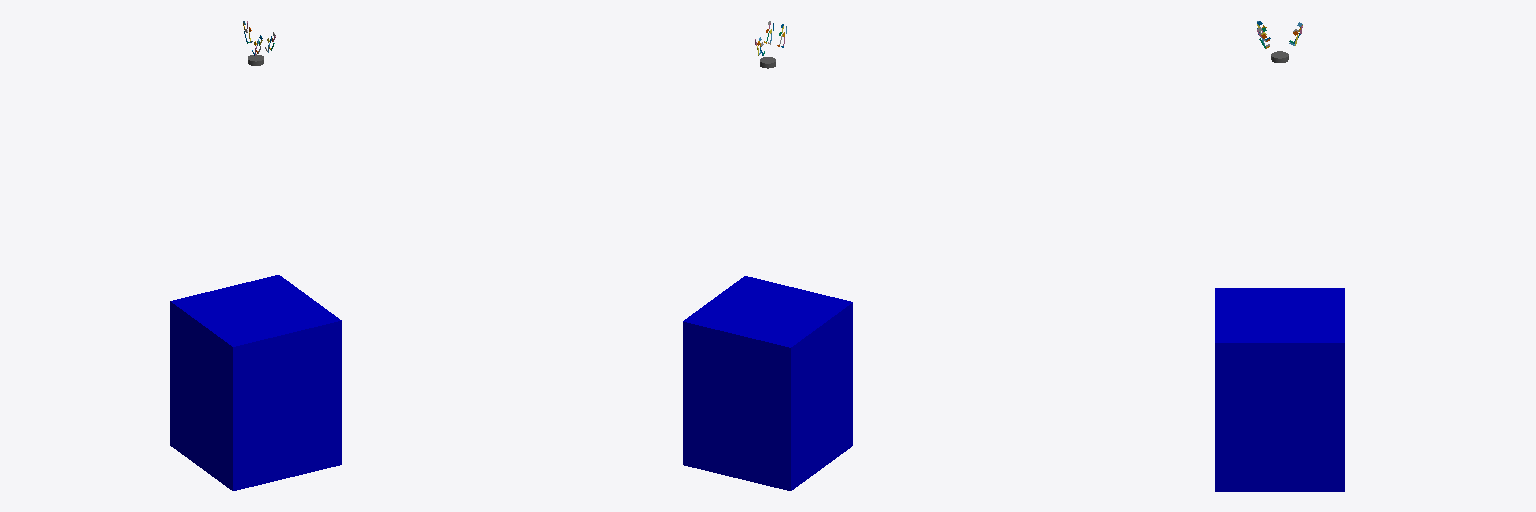
--- What the picture shows (computed from the rendered views, not written in the file) ---
The picture shows the robot from 3 angles, left to right: view 1: azimuth 30°, elevation 25°; view 2: azimuth 150°, elevation 25°; view 3: azimuth 270°, elevation 25°; orthographic projection.
Model iiwa_3finger with 51 links and 50 joints (46 revolute, 4 fixed), rooted at world, posed all joints at 0.
Links seen in each view (by area): view 1: world; view 2: world; view 3: world.
Link boxes in pixels (x1,y1,x2,y2): world: [170, 275, 341, 490]; world: [683, 276, 852, 490]; world: [1215, 288, 1344, 491].
Size in the robot's own frame: 0.6 by 0.6 by 2.25 metres.
Meshes: 14 distinct files referenced, 1 mesh visuals loaded (1 binary STL); not drawn: 21 (reference not matched to a file when rendering).

The robot description file, URDF, robot "iiwa_3finger":
<?xml version="1.0" ?>
<!-- =================================================================================== -->
<!-- |    This document was autogenerated by xacro from iiwa_3finger.urdf.xacro        | -->
<!-- |    EDITING THIS FILE BY HAND IS NOT RECOMMENDED                                 | -->
<!-- =================================================================================== -->
<!-- Here we define the robot, we named it "iiwa14_3finger_gripper" -->
<robot name="iiwa_3finger" xmlns:xacro="http://www.ros.org/wiki/xacro">
  <!-- Import Rviz colors -->
  <material name="Black">
    <color rgba="0.0 0.0 0.0 1.0"/>
  </material>
  <material name="Blue">
    <color rgba="0.0 0.0 0.8 1.0"/>
  </material>
  <material name="Green">
    <color rgba="0.0 0.8 0.0 1.0"/>
  </material>
  <material name="Grey">
    <color rgba="0.4 0.4 0.4 1.0"/>
  </material>
  <material name="Orange">
    <color rgba="1.0 0.423529411765 0.0392156862745 1.0"/>
  </material>
  <material name="Brown">
    <color rgba="0.870588235294 0.811764705882 0.764705882353 1.0"/>
  </material>
  <material name="Red">
    <color rgba="0.8 0.0 0.0 1.0"/>
  </material>
  <material name="White">
    <color rgba="1.0 1.0 1.0 1.0"/>
  </material>
  <!--Import the iiwa14 macro -->
  <!-- Import all Gazebo-customization elements, including Gazebo colors -->
  <!-- Import Transmissions -->
  <!-- Include Utilities -->
  <!-- The following macros are adapted from the LWR 4 definitions of the RCPRG - https://github.com/RCPRG-ros-pkg/lwr_robot -->
  <!--Little helper macros to define the inertia matrix needed for links.-->
  <!--Cuboid-->
  <!--Cylinder: length is along the y-axis! -->
  <!-- some constants -->
  <!-- Import Rviz colors -->
  <material name="Black">
    <color rgba="0.0 0.0 0.0 1.0"/>
  </material>
  <material name="Blue">
    <color rgba="0.0 0.0 0.8 1.0"/>
  </material>
  <material name="Green">
    <color rgba="0.0 0.8 0.0 1.0"/>
  </material>
  <material name="Grey">
    <color rgba="0.4 0.4 0.4 1.0"/>
  </material>
  <material name="Orange">
    <color rgba="1.0 0.423529411765 0.0392156862745 1.0"/>
  </material>
  <material name="Brown">
    <color rgba="0.870588235294 0.811764705882 0.764705882353 1.0"/>
  </material>
  <material name="Red">
    <color rgba="0.8 0.0 0.0 1.0"/>
  </material>
  <material name="White">
    <color rgba="1.0 1.0 1.0 1.0"/>
  </material>
  <!--Import the iiwa14 macro -->
  <!-- Import all Gazebo-customization elements, including Gazebo colors -->
  <!-- Import Transmissions -->
  <!-- Include Utilities -->
  <!-- The following macros are adapted from the LWR 4 definitions of the RCPRG - https://github.com/RCPRG-ros-pkg/lwr_robot -->
  <!--Little helper macros to define the inertia matrix needed for links.-->
  <!--Cuboid-->
  <!--Cylinder: length is along the y-axis! -->
  <!-- some constants -->
  <!--Build finger model -->
  <!--  Arguments for the iiwa14 macro  -->
  <!-- xacro:arg name="prefix" default=""/-->
  <!--  Define the origin of your 3D space
  Here we define a box lying at 0,0,0 with some dimensions, in reality our robot is place on top of a metal cart with those dimensions.
  This will include the cart in the scene and avoid the robot to hit it when using MoveIt! 
  If you don't want to have that you can define a basic world link (see commented lines)
  -->
  <!--     <link name="world"/> -->
  <link name="world">
    <visual>
      <origin rpy="0 0 0" xyz="0 0 0.38"/>
      <geometry>
        <box size="0.60 0.60 0.76"/>
      </geometry>
      <material name="Blue">
      </material>
    </visual>
    <collision>
      <origin rpy="0 0 0" xyz="0 0 0.38"/>
      <geometry>
        <box size="0.60 0.60 0.76"/>
      </geometry>
      <material name="Blue">
      </material>
    </collision>
  </link>
  <gazebo reference="world">
    <static>true</static>
  </gazebo>
  <!-- Here we insert an iiwa14 robot in the scene, it's origin is just on top of the box previously defined. You can use 0,0,0 if you don't have that. -->
  <!--joint between {parent} and link_0-->
  <joint name="world_iiwa_joint" type="fixed">
    <origin rpy="0 0 0" xyz="0 0 0.76"/>
    <parent link="world"/>
    <child link="iiwa_link_0"/>
  </joint>
  <link name="iiwa_link_0">
    <inertial>
      <origin rpy="0 0 0" xyz="-0.1 0 0.07"/>
      <mass value="5"/>
      <inertia ixx="0.05" ixy="0" ixz="0" iyy="0.06" iyz="0" izz="0.03"/>
    </inertial>
    <visual>
      <origin rpy="0 0 0" xyz="0 0 0"/>
      <geometry>
        <mesh filename="package://iiwa_description/meshes/iiwa14/visual/link_0.stl"/>
      </geometry>
      <material name="Grey"/>
    </visual>
    <collision>
      <origin rpy="0 0 0" xyz="0 0 0"/>
      <geometry>
        <mesh filename="package://iiwa_description/meshes/iiwa14/collision/link_0.stl"/>
      </geometry>
      <material name="Grey"/>
    </collision>
    <self_collision_checking>
      <origin rpy="0 0 0" xyz="0 0 0"/>
      <geometry>
        <capsule length="0.25" radius="0.15"/>
      </geometry>
    </self_collision_checking>
  </link>
  <!-- joint between link_0 and link_1 -->
  <joint name="iiwa_joint_1" type="revolute">
    <parent link="iiwa_link_0"/>
    <child link="iiwa_link_1"/>
    <origin rpy="0 0 0" xyz="0 0 0.1575"/>
    <axis xyz="0 0 1"/>
    <limit effort="300" lower="-2.96705972839" upper="2.96705972839" velocity="10"/>
    <safety_controller k_position="100" k_velocity="2" soft_lower_limit="-2.93215314335" soft_upper_limit="2.93215314335"/>
    <dynamics damping="0.5"/>
  </joint>
  <link name="iiwa_link_1">
    <inertial>
      <origin rpy="0 0 0" xyz="0 -0.03 0.12"/>
      <mass value="4"/>
      <inertia ixx="0.1" ixy="0" ixz="0" iyy="0.09" iyz="0" izz="0.02"/>
    </inertial>
    <visual>
      <origin rpy="0 0 0" xyz="0 0 0"/>
      <geometry>
        <mesh filename="package://iiwa_description/meshes/iiwa14/visual/link_1.stl"/>
      </geometry>
      <material name="Orange"/>
    </visual>
    <collision>
      <origin rpy="0 0 0" xyz="0 0 0"/>
      <geometry>
        <mesh filename="package://iiwa_description/meshes/iiwa14/collision/link_1.stl"/>
      </geometry>
      <material name="Orange"/>
    </collision>
  </link>
  <!-- joint between link_1 and link_2 -->
  <joint name="iiwa_joint_2" type="revolute">
    <parent link="iiwa_link_1"/>
    <child link="iiwa_link_2"/>
    <origin rpy="1.57079632679   0 3.14159265359" xyz="0 0 0.2025"/>
    <axis xyz="0 0 1"/>
    <limit effort="300" lower="-2.09439510239" upper="2.09439510239" velocity="10"/>
    <safety_controller k_position="100" k_velocity="2" soft_lower_limit="-2.05948851735" soft_upper_limit="2.05948851735"/>
    <dynamics damping="0.5"/>
  </joint>
  <link name="iiwa_link_2">
    <inertial>
      <origin rpy="0 0 0" xyz="0.0003 0.059 0.042"/>
      <mass value="4"/>
      <inertia ixx="0.05" ixy="0" ixz="0" iyy="0.018" iyz="0" izz="0.044"/>
    </inertial>
    <visual>
      <origin rpy="0 0 0" xyz="0 0 0"/>
      <geometry>
        <mesh filename="package://iiwa_description/meshes/iiwa14/visual/link_2.stl"/>
      </geometry>
      <material name="Orange"/>
    </visual>
    <collision>
      <origin rpy="0 0 0" xyz="0 0 0"/>
      <geometry>
        <mesh filename="package://iiwa_description/meshes/iiwa14/collision/link_2.stl"/>
      </geometry>
      <material name="Orange"/>
    </collision>
  </link>
  <!-- joint between link_2 and link_3 -->
  <joint name="iiwa_joint_3" type="revolute">
    <parent link="iiwa_link_2"/>
    <child link="iiwa_link_3"/>
    <origin rpy="1.57079632679 0 3.14159265359" xyz="0 0.2045 0"/>
    <axis xyz="0 0 1"/>
    <limit effort="300" lower="-2.96705972839" upper="2.96705972839" velocity="10"/>
    <safety_controller k_position="100" k_velocity="2" soft_lower_limit="-2.93215314335" soft_upper_limit="2.93215314335"/>
    <dynamics damping="0.5"/>
  </joint>
  <link name="iiwa_link_3">
    <inertial>
      <origin rpy="0 0 0" xyz="0 0.03 0.13"/>
      <mass value="3"/>
      <inertia ixx="0.08" ixy="0" ixz="0" iyy="0.075" iyz="0" izz="0.01"/>
    </inertial>
    <visual>
      <origin rpy="0 0 0" xyz="0 0 0"/>
      <geometry>
        <mesh filename="package://iiwa_description/meshes/iiwa14/visual/link_3.stl"/>
      </geometry>
      <material name="Orange"/>
    </visual>
    <collision>
      <origin rpy="0 0 0" xyz="0 0 0"/>
      <geometry>
        <mesh filename="package://iiwa_description/meshes/iiwa14/collision/link_3.stl"/>
      </geometry>
      <material name="Orange"/>
    </collision>
  </link>
  <!-- joint between link_3 and link_4 -->
  <joint name="iiwa_joint_4" type="revolute">
    <parent link="iiwa_link_3"/>
    <child link="iiwa_link_4"/>
    <origin rpy="1.57079632679 0 0" xyz="0 0 0.2155"/>
    <axis xyz="0 0 1"/>
    <limit effort="300" lower="-2.09439510239" upper="2.09439510239" velocity="10"/>
    <safety_controller k_position="100" k_velocity="2" soft_lower_limit="-2.05948851735" soft_upper_limit="2.05948851735"/>
    <dynamics damping="0.5"/>
  </joint>
  <link name="iiwa_link_4">
    <inertial>
      <origin rpy="0 0 0" xyz="0 0.067 0.034"/>
      <mass value="2.7"/>
      <inertia ixx="0.03" ixy="0" ixz="0" iyy="0.01" iyz="0" izz="0.029"/>
    </inertial>
    <visual>
      <origin rpy="0 0 0" xyz="0 0 0"/>
      <geometry>
        <mesh filename="package://iiwa_description/meshes/iiwa14/visual/link_4.stl"/>
      </geometry>
      <material name="Orange"/>
    </visual>
    <collision>
      <origin rpy="0 0 0" xyz="0 0 0"/>
      <geometry>
        <mesh filename="package://iiwa_description/meshes/iiwa14/collision/link_4.stl"/>
      </geometry>
      <material name="Orange"/>
    </collision>
  </link>
  <!-- joint between link_4 and link_5 -->
  <joint name="iiwa_joint_5" type="revolute">
    <parent link="iiwa_link_4"/>
    <child link="iiwa_link_5"/>
    <origin rpy="-1.57079632679 3.14159265359 0" xyz="0 0.1845 0"/>
    <axis xyz="0 0 1"/>
    <limit effort="300" lower="-2.96705972839" upper="2.96705972839" velocity="10"/>
    <safety_controller k_position="100" k_velocity="2" soft_lower_limit="-2.93215314335" soft_upper_limit="2.93215314335"/>
    <dynamics damping="0.5"/>
  </joint>
  <link name="iiwa_link_5">
    <inertial>
      <origin rpy="0 0 0" xyz="0.0001 0.021 0.076"/>
      <mass value="1.7"/>
      <inertia ixx="0.02" ixy="0" ixz="0" iyy="0.018" iyz="0" izz="0.005"/>
    </inertial>
    <visual>
      <origin rpy="0 0 0" xyz="0 0 0"/>
      <geometry>
        <mesh filename="package://iiwa_description/meshes/iiwa14/visual/link_5.stl"/>
      </geometry>
      <material name="Orange"/>
    </visual>
    <collision>
      <origin rpy="0 0 0" xyz="0 0 0"/>
      <geometry>
        <mesh filename="package://iiwa_description/meshes/iiwa14/collision/link_5.stl"/>
      </geometry>
      <material name="Orange"/>
    </collision>
  </link>
  <!-- joint between link_5 and link_6 -->
  <joint name="iiwa_joint_6" type="revolute">
    <parent link="iiwa_link_5"/>
    <child link="iiwa_link_6"/>
    <origin rpy="1.57079632679 0 0" xyz="0 0 0.2155"/>
    <axis xyz="0 0 1"/>
    <limit effort="300" lower="-2.09439510239" upper="2.09439510239" velocity="10"/>
    <safety_controller k_position="100" k_velocity="2" soft_lower_limit="-2.05948851735" soft_upper_limit="2.05948851735"/>
    <dynamics damping="0.5"/>
  </joint>
  <link name="iiwa_link_6">
    <inertial>
      <origin rpy="0 0 0" xyz="0 0.0006 0.0004"/>
      <mass value="1.8"/>
      <inertia ixx="0.005" ixy="0" ixz="0" iyy="0.0036" iyz="0" izz="0.0047"/>
    </inertial>
    <visual>
      <origin rpy="0 0 0" xyz="0 0 0"/>
      <geometry>
        <mesh filename="package://iiwa_description/meshes/iiwa14/visual/link_6.stl"/>
      </geometry>
      <material name="Orange"/>
    </visual>
    <collision>
      <origin rpy="0 0 0" xyz="0 0 0"/>
      <geometry>
        <mesh filename="package://iiwa_description/meshes/iiwa14/collision/link_6.stl"/>
      </geometry>
      <material name="Orange"/>
    </collision>
  </link>
  <!-- joint between link_6 and link_7 -->
  <joint name="iiwa_joint_7" type="revolute">
    <parent link="iiwa_link_6"/>
    <child link="iiwa_link_7"/>
    <origin rpy="-1.57079632679 3.14159265359 0" xyz="0 0.081 0"/>
    <axis xyz="0 0 1"/>
    <limit effort="300" lower="-3.05432619099" upper="3.05432619099" velocity="10"/>
    <safety_controller k_position="100" k_velocity="2" soft_lower_limit="-3.01941960595" soft_upper_limit="3.01941960595"/>
    <dynamics damping="0.5"/>
  </joint>
  <link name="iiwa_link_7">
    <inertial>
      <origin rpy="0 0 0" xyz="0 0 0.02"/>
      <mass value="0.3"/>
      <inertia ixx="0.001" ixy="0" ixz="0" iyy="0.001" iyz="0" izz="0.001"/>
    </inertial>
    <visual>
      <origin rpy="0 0 0" xyz="0 0 0"/>
      <geometry>
        <mesh filename="package://iiwa_description/meshes/iiwa14/visual/link_7.stl"/>
      </geometry>
      <material name="Grey"/>
    </visual>
    <collision>
      <origin rpy="0 0 0" xyz="0 0 0"/>
      <geometry>
        <mesh filename="package://iiwa_description/meshes/iiwa14/collision/link_7.stl"/>
      </geometry>
      <material name="Grey"/>
    </collision>
  </link>
  <joint name="iiwa_joint_ee" type="fixed">
    <parent link="iiwa_link_7"/>
    <child link="iiwa_link_ee"/>
    <origin rpy="0 0 0" xyz="0 0 0.045"/>
  </joint>
  <link name="iiwa_link_ee">
    </link>
  <!--Extensions -->
  <!-- Load Gazebo lib and set the robot namespace -->
  <gazebo>
    <plugin filename="libgazebo_ros_control.so" name="gazebo_ros_control">
      <robotNamespace>/iiwa</robotNamespace>
    </plugin>
  </gazebo>
  <!-- Link0 -->
  <gazebo reference="iiwa_link_0">
    <material>Gazebo/Grey</material>
    <mu1>0.2</mu1>
    <mu2>0.2</mu2>
  </gazebo>
  <!-- Link1 -->
  <gazebo reference="iiwa_link_1">
    <material>Gazebo/Orange</material>
    <mu1>0.2</mu1>
    <mu2>0.2</mu2>
  </gazebo>
  <!-- Link2 -->
  <gazebo reference="iiwa_link_2">
    <material>Gazebo/Orange</material>
    <mu1>0.2</mu1>
    <mu2>0.2</mu2>
  </gazebo>
  <!-- Link3 -->
  <gazebo reference="iiwa_link_3">
    <material>Gazebo/Orange</material>
    <mu1>0.2</mu1>
    <mu2>0.2</mu2>
  </gazebo>
  <!-- Link4 -->
  <gazebo reference="iiwa_link_4">
    <material>Gazebo/Orange</material>
    <mu1>0.2</mu1>
    <mu2>0.2</mu2>
  </gazebo>
  <!-- Link5 -->
  <gazebo reference="iiwa_link_5">
    <material>Gazebo/Orange</material>
    <mu1>0.2</mu1>
    <mu2>0.2</mu2>
  </gazebo>
  <!-- Link6 -->
  <gazebo reference="iiwa_link_6">
    <material>Gazebo/Orange</material>
    <mu1>0.2</mu1>
    <mu2>0.2</mu2>
  </gazebo>
  <!-- Link7 -->
  <gazebo reference="iiwa_link_7">
    <material>Gazebo/Grey</material>
    <mu1>0.2</mu1>
    <mu2>0.2</mu2>
  </gazebo>
  <transmission name="iiwa_tran_1">
    <robotNamespace>/iiwa</robotNamespace>
    <type>transmission_interface/SimpleTransmission</type>
    <joint name="iiwa_joint_1">
      <hardwareInterface>PositionJointInterface</hardwareInterface>
    </joint>
    <actuator name="iiwa_motor_1">
      <hardwareInterface>PositionJointInterface</hardwareInterface>
      <mechanicalReduction>1</mechanicalReduction>
    </actuator>
  </transmission>
  <transmission name="iiwa_tran_2">
    <robotNamespace>/iiwa</robotNamespace>
    <type>transmission_interface/SimpleTransmission</type>
    <joint name="iiwa_joint_2">
      <hardwareInterface>PositionJointInterface</hardwareInterface>
    </joint>
    <actuator name="iiwa_motor_2">
      <hardwareInterface>PositionJointInterface</hardwareInterface>
      <mechanicalReduction>1</mechanicalReduction>
    </actuator>
  </transmission>
  <transmission name="iiwa_tran_3">
    <robotNamespace>/iiwa</robotNamespace>
    <type>transmission_interface/SimpleTransmission</type>
    <joint name="iiwa_joint_3">
      <hardwareInterface>PositionJointInterface</hardwareInterface>
    </joint>
    <actuator name="iiwa_motor_3">
      <hardwareInterface>PositionJointInterface</hardwareInterface>
      <mechanicalReduction>1</mechanicalReduction>
    </actuator>
  </transmission>
  <transmission name="iiwa_tran_4">
    <robotNamespace>/iiwa</robotNamespace>
    <type>transmission_interface/SimpleTransmission</type>
    <joint name="iiwa_joint_4">
      <hardwareInterface>PositionJointInterface</hardwareInterface>
    </joint>
    <actuator name="iiwa_motor_4">
      <hardwareInterface>PositionJointInterface</hardwareInterface>
      <mechanicalReduction>1</mechanicalReduction>
    </actuator>
  </transmission>
  <transmission name="iiwa_tran_5">
    <robotNamespace>/iiwa</robotNamespace>
    <type>transmission_interface/SimpleTransmission</type>
    <joint name="iiwa_joint_5">
      <hardwareInterface>PositionJointInterface</hardwareInterface>
    </joint>
    <actuator name="iiwa_motor_5">
      <hardwareInterface>PositionJointInterface</hardwareInterface>
      <mechanicalReduction>1</mechanicalReduction>
    </actuator>
  </transmission>
  <transmission name="iiwa_tran_6">
    <robotNamespace>/iiwa</robotNamespace>
    <type>transmission_interface/SimpleTransmission</type>
    <joint name="iiwa_joint_6">
      <hardwareInterface>PositionJointInterface</hardwareInterface>
    </joint>
    <actuator name="iiwa_motor_6">
      <hardwareInterface>PositionJointInterface</hardwareInterface>
      <mechanicalReduction>1</mechanicalReduction>
    </actuator>
  </transmission>
  <transmission name="iiwa_tran_7">
    <robotNamespace>/iiwa</robotNamespace>
    <type>transmission_interface/SimpleTransmission</type>
    <joint name="iiwa_joint_7">
      <hardwareInterface>PositionJointInterface</hardwareInterface>
    </joint>
    <actuator name="iiwa_motor_7">
      <hardwareInterface>PositionJointInterface</hardwareInterface>
      <mechanicalReduction>1</mechanicalReduction>
    </actuator>
  </transmission>
  <!-- Tool properties -->
  <!--  Here we define a fixed joint between the tip of the iiwa14 and the base of coupling. 
  There is no offset between the two, that means the coupling is attached at the robot flange. -->
  <joint name="tool_joint" type="fixed">
    <parent link="iiwa_link_ee"/>
    <child link="coupling_link"/>
    <origin rpy="1.57079632679 0 0" xyz="-0.04 0.04 0.0"/>
  </joint>
  <!-- Here we define the geometry of the coupling. the mass, center of gravity, inertial were unknown -->
  <link name="coupling_link">
    <visual>
      <origin rpy="0 0 0" xyz="0 0 0"/>
      <geometry>
        <mesh filename="package://iiwa_3finger_description/meshes/visual/coupling.STL"/>
      </geometry>
      <material name="Grey">
        <!--color rgba="0 1 0 1"/-->
      </material>
    </visual>
    <collision>
      <origin rpy="0 0 0" xyz="0 0 0"/>
      <geometry>
        <mesh filename="package://iiwa_3finger_description/meshes/visual/collision/coupling.STL"/>
      </geometry>
      <material name="Grey">
        <!--color rgba="0 1 1 1"/-->
      </material>
    </collision>
    <inertial>
      <mass value="0.1"/>
      <origin xyz="0 0 0"/>
      <inertia ixx="0.0" ixy="0" ixz="0" iyy="0.0" iyz="0" izz="0.0"/>
    </inertial>
  </link>
  <!--  Here we define another fixed joint. It is placed at the end of the coupling-->
  <joint name="couling_joint" type="fixed">
    <parent link="coupling_link"/>
    <child link="palm"/>
    <origin rpy="1.57079632679 1.57079632679 1.57079632679" xyz="0.04 0.07 0.04"/>
  </joint>
  <!-- Insert the fingers -->
  <!-- Link list -->
  <!-- Link 0 -->
  <link name="finger_1_link_0">
    <visual>
      <origin rpy="0 0 0" xyz="0 0 0"/>
      <geometry>
        <mesh filename="package://iiwa_3finger_description/meshes/visual/link_0.STL"/>
      </geometry>
      <material name="Grey">
        <!-- <color rgba="0 1 0 1"/> -->
      </material>
    </visual>
    <collision>
      <origin rpy="0 0 0" xyz="0 0 0"/>
      <geometry>
        <mesh filename="package://iiwa_tool_description/meshes/collision/link_0.STL"/>
      </geometry>
      <material name="Grey">
        <!-- <color rgba="0 1 1 1"/> -->
      </material>
    </collision>
    <inertial>
      <mass value="0.1"/>
      <origin xyz="-0.01 0 0"/>
      <inertia ixx="0.000018" ixy="0" ixz="0" iyy="0.000025" iyz="0" izz="0.000025"/>
    </inertial>
  </link>
  <gazebo reference="finger_1_link_0">
    <mu1>1.1</mu1>
    <mu2>1.1</mu2>
  </gazebo>
  <!-- Link 1 -->
  <link name="finger_1_link_1">
    <visual>
      <origin rpy="0 0 1.5708" xyz="0 0.05717 0"/>
      <geometry>
        <mesh filename="package://iiwa_tool_description/meshes/visual/link_1.STL"/>
      </geometry>
      <material name="Grey"/>
    </visual>
    <collision>
      <origin rpy="0 0 1.5708" xyz="0 0.05717 0"/>
      <geometry>
        <mesh filename="package://iiwa_tool_description/meshes/collision/link_1.STL"/>
      </geometry>
      <material name="Grey">
        <!-- <color rgba="0 1 1 1"/> -->
      </material>
    </collision>
    <inertial>
      <origin rpy="0 0 1.5708" xyz="0.00053 0.03218 0"/>
      <mass value="0.047"/>
      <inertia ixx="0.00000499332" ixy="0.00000091312" ixz="-0.00000000120" iyy="0.00006434531" iyz="-0.00000000007" izz="0.00006061917"/>
    </inertial>
  </link>
  <gazebo reference="finger_1_link_1">
    <mu1>1.1</mu1>
    <mu2>1.1</mu2>
    <minDepth>0.001</minDepth>
  </gazebo>
  <!-- Link 2 -->
  <link name="finger_1_link_2">
    <visual>
      <origin rpy="0 0 1.5708" xyz="0 0.03810 0.0075"/>
      <geometry>
        <mesh filename="package://iiwa_tool_description/meshes/visual/link_2.STL"/>
      </geometry>
      <material name="Grey"/>
    </visual>
    <collision>
      <origin rpy="0 0 1.5708" xyz="0 0.03810 0.0075"/>
      <geometry>
        <mesh filename="package://iiwa_tool_description/meshes/collision/link_2.STL"/>
      </geometry>
      <material name="Grey"/>
    </collision>
    <inertial>
      <origin rpy="0 0 1.5708" xyz="0.00048 0.02167 0.00018"/>
      <mass value="0.03284"/>
      <inertia ixx="0.00000348008" ixy="0.00000031940" ixz="0.00000013041" iyy="0.00002248123" iyz="0.00000000291" izz="0.00001986346"/>
    </inertial>
  </link>
  <gazebo reference="finger_1_link_2">
    <mu1>1.1</mu1>
    <mu2>1.1</mu2>
    <minDepth>0.001</minDepth>
  </gazebo>
  <!-- Link 3 -->
  <link name="finger_1_link_3">
    <visual>
      <origin rpy="0 0 0" xyz="0 0 0"/>
      <geometry>
        <mesh filename="package://iiwa_tool_description/meshes/visual/link_3.STL"/>
      </geometry>
      <material name="Grey"/>
    </visual>
    <collision>
      <origin rpy="0 0 0" xyz="0 0 0"/>
      <geometry>
        <mesh filename="package://iiwa_tool_description/meshes/collision/link_3.STL"/>
      </geometry>
      <material name="Grey"/>
    </collision>
    <inertial>
      <origin rpy="0 0 0" xyz="0.01626 0.00049 0.0002"/>
      <mass value="0.03354"/>
      <inertia ixx="0.00000305151" ixy="0.00000089792" ixz="0.00000000249" iyy="0.00001427978" iyz="-0.00000001191" izz="0.00001264126"/>
    </inertial>
  </link>
  <gazebo reference="finger_1_link_3">
    <mu1>1.1</mu1>
    <mu2>1.1</mu2>
    <minDepth>0.001</minDepth>
  </gazebo>
  <!-- Link proximal actuating hinge -->
  <link name="finger_1_link_proximal_actuating_hinge">
    <visual>
      <origin rpy="0 0 0" xyz="0.01429 0 0"/>
      <geometry>
        <box size="0.02858 .0075 .002"/>
      </geometry>
    </visual>
    <collision>
      <origin rpy="0 0 0" xyz="0.01429 0 0"/>
      <geometry>
        <box size="0.02858 .0075 .002"/>
      </geometry>
    </collision>
    <inertial>
      <origin rpy="0 0 0" xyz="0.0012 -0.00162 -0.00161"/>
      <mass value="0.02647"/>
      <inertia ixx="0.00000156447" ixy="0.000000236226" ixz="-0.00000014862" iyy="0.00000221068" iyz="-0.00000014369" izz="0.00000323175"/>
    </inertial>
  </link>
  <gazebo reference="finger_1_link_proximal_actuating_hinge">
    <mu1>1.1</mu1>
    <mu2>1.1</mu2>
  </gazebo>
  <!-- Link paraproximal actuating hinge -->
  <link name="finger_1_link_paraproximal_actuating_hinge">
    <visual>
      <origin rpy="0 0 0" xyz="0.01143 0 0"/>
      <geometry>
        <box size="0.02286 .0075 .002"/>
      </geometry>
    </visual>
    <collision>
      <origin rpy="0 0 0" xyz="0.01143 0 0"/>
      <geometry>
        <box size="0.02286 .0075 .002"/>
      </geometry>
    </collision>
    <inertial>
      <origin rpy="0 0 0" xyz="0.0064 0 0"/>
      <!-- copied from proximal_actuating_hinge -->
      <mass value="0.00362"/>
      <inertia ixx="0.00000012043" ixy="0" ixz="0" iyy="0.00000053588" iyz="0" izz="0.00000065322"/>
    </inertial>
  </link>
  <gazebo reference="finger_1_link_paraproximal_actuating_hinge">
    <mu1>1.1</mu1>
    <mu2>1.1</mu2>
  </gazebo>
  <!-- Link proximal actuating bar -->
  <link name="finger_1_link_proximal_actuating_bar">
    <visual>
      <origin rpy="0 0 0" xyz="0.026789 0 0"/>
      <geometry>
        <box size="0.05398 .0075 .002"/>
      </geometry>
    </visual>
    <collision>
      <origin rpy="0 0 0" xyz="0.026789 0 0"/>
      <geometry>
        <box size="0.05398 .0075 .002"/>
      </geometry>
    </collision>
    <inertial>
      <origin rpy="0 0 0" xyz="0.02699 -0.00122 0"/>
      <mass value="0.00659"/>
      <inertia ixx="0.00000008348" ixy="-0.0000002179" ixz="0.00000000134" iyy="0.00000719076" iyz="0" izz="0.00000718272"/>
    </inertial>
  </link>
  <gazebo reference="finger_1_link_proximal_actuating_bar">
    <mu1>1.1</mu1>
    <mu2>1.1</mu2>
  </gazebo>
  <!-- Link paraproximal bar -->
  <link name="finger_1_link_paraproximal_bar">
    <visual>
      <origin rpy="0 0 0" xyz="0.02885 0 0"/>
      <geometry>
        <box size="0.05770 .0075 .002"/>
      </geometry>
    </visual>
    <collision>
      <origin rpy="0 0 0" xyz="0.02885 0 0"/>
      <geometry>
        <box size="0.05770 .0075 .002"/>
      </geometry>
    </collision>
    <inertial>
      <origin rpy="0 0 0" xyz="0.02858 -0.00129 0"/>
      <mass value="0.00732"/>
      <inertia ixx="0.00000009065" ixy="-0.00000027047" ixz="0.00000000142" iyy="0.00000878034" iyz="0" izz="0.00000877558"/>
    </inertial>
  </link>
  <gazebo reference="finger_1_link_paraproximal_bar">
    <mu1>1.1</mu1>
    <mu2>1.1</mu2>
  </gazebo>
  <!-- Link median actuating hinge -->
  <link name="finger_1_link_median_actuating_hinge">
    <visual>
      <origin rpy="0 0 0" xyz="0 0 0"/>
      <geometry>
        <box size=".02 .02 .002"/>
      </geometry>
    </visual>
    <collision>
      <origin rpy="0 0 0" xyz="0 0 0"/>
      <geometry>
        <box size=".02 .02 .002"/>
      </geometry>
    </collision>
    <inertial>
      <origin rpy="0 0 0" xyz="0.0092 0.00514 0"/>
      <mass value="0.00359"/>
      <inertia ixx="0.00000024735" ixy="0.00000023619" ixz="0" iyy="0.00000047681" iyz="0" izz="0.00000071813"/>
    </inertial>
  </link>
  <gazebo reference="finger_1_link_median_actuating_hinge">
    <mu1>1.1</mu1>
    <mu2>1.1</mu2>
  </gazebo>
  <!-- Link median bar -->
  <link name="finger_1_link_median_bar">
    <visual>
      <origin rpy="0 0 0" xyz="0.01905 0 0"/>
      <geometry>
        <box size="0.0381 .0075 .002"/>
      </geometry>
    </visual>
    <collision>
      <origin rpy="0 0 0" xyz="0.01905 0 0"/>
      <geometry>
        <box size="0.0381 .0075 .002"/>
      </geometry>
    </collision>
    <inertial>
      <origin rpy="0 0 0" xyz="0.01905 -0.00107 0"/>
      <mass value="0.00538"/>
      <inertia ixx="0.00000006639" ixy="-0.00000010996" ixz="0.00000000094" iyy="0.00000305318" iyz="0" izz="0.00000304657"/>
    </inertial>
  </link>
  <gazebo reference="finger_1_link_median_bar">
    <mu1>1.1</mu1>
    <mu2>1.1</mu2>
  </gazebo>
  <!-- Link paramedian hinge -->
  <link name="finger_1_link_paramedian_hinge">
    <visual>
      <origin rpy="0 0 0" xyz="0 0 0"/>
      <geometry>
        <box size=".02 .02 .002"/>
      </geometry>
    </visual>
    <collision>
      <origin rpy="0 0 0" xyz="0 0 0"/>
      <geometry>
        <box size=".02 .02 .002"/>
      </geometry>
    </collision>
    <inertial>
      <origin rpy="0 0 0" xyz="-0.01025 0.00046 0"/>
      <mass value="0.00276"/>
      <inertia ixx="0.00000004213" ixy="-0.00000001491" ixz="0" iyy="0.00000050258" iyz="0" izz="0.00000054007"/>
    </inertial>
  </link>
  <gazebo reference="finger_1_link_paramedian_hinge">
    <mu1>1.1</mu1>
    <mu2>1.1</mu2>
  </gazebo>
  <!-- Link median bar underactuated -->
  <link name="finger_1_link_median_bar_underactuated">
    <visual>
      <origin rpy="0 0 0" xyz="0.01905 0 0"/>
      <geometry>
        <box size="0.0381 .0075 .002"/>
      </geometry>
    </visual>
    <collision>
      <origin rpy="0 0 0" xyz="0.01905 0 0"/>
      <geometry>
        <box size="0.0381 .0075 .002"/>
      </geometry>
    </collision>
    <inertial>
      <origin rpy="0 0 0" xyz="0.01905 -0.00107 0"/>
      <mass value="0.00538"/>
      <inertia ixx="0.00000006639" ixy="-0.00000010996" ixz="-0.00000000094" iyy="0.00000305318" iyz="0" izz="0.00000304657"/>
    </inertial>
  </link>
  <gazebo reference="finger_1_link_median_bar_underactuated">
    <mu1>1.1</mu1>
    <mu2>1.1</mu2>
  </gazebo>
  <!-- Link paradistal hinge -->
  <link name="finger_1_link_paradistal_hinge">
    <visual>
      <origin rpy="0 0 0" xyz="0 0 0"/>
      <geometry>
        <box size=".02 .02 .002"/>
      </geometry>
    </visual>
    <collision>
      <origin rpy="0 0 0" xyz="0 0 0"/>
      <geometry>
        <box size=".02 0.02 .002"/>
      </geometry>
    </collision>
    <inertial>
      <origin rpy="0 0 0" xyz="0.00548 0 0"/>
      <mass value="0.00158"/>
      <inertia ixx="0.00000001907" ixy="0" ixz="0" iyy="0.00000010970" iyz="0" izz="0.00000012610"/>
    </inertial>
  </link>
  <gazebo reference="finger_1_link_paradistal_hinge">
    <mu1>1.1</mu1>
    <mu2>1.1</mu2>
  </gazebo>
  <!-- End of link list -->
  <!-- Joint list -->
  <!-- Joint proximal actuating hinge -->
  <joint name="finger_1_joint_proximal_actuating_hinge" type="revolute">
    <parent link="finger_1_link_0"/>
    <child link="finger_1_link_proximal_actuating_hinge"/>
    <axis xyz="0 0 1"/>
    <origin rpy="0 0 -2.0906" xyz="0 0 0.01"/>
    <limit effort="100" lower="-3.1416" upper="3.1416" velocity="100"/>
  </joint>
  <gazebo reference="finger_1_joint_proximal_actuating_hinge">
    <implicitSpringDamper>1</implicitSpringDamper>
  </gazebo>
  <!-- Joint paraproximal actuating hinge -->
  <joint name="finger_1_joint_paraproximal_actuating_hinge" type="revolute">
    <parent link="finger_1_link_0"/>
    <child link="finger_1_link_paraproximal_actuating_hinge"/>
    <axis xyz="0 0 1"/>
    <origin rpy="0 0 -2.0906" xyz="0 0 -0.01"/>
    <limit effort="100" lower="-3.1416" upper="3.1416" velocity="100"/>
  </joint>
  <gazebo reference="finger_1_joint_paraproximal_actuating_hinge">
    <implicitSpringDamper>1</implicitSpringDamper>
  </gazebo>
  <!-- Joint proximal actuating bar -->
  <joint name="finger_1_joint_proximal_actuating_bar" type="revolute">
    <parent link="finger_1_link_proximal_actuating_hinge"/>
    <child link="finger_1_link_proximal_actuating_bar"/>
    <axis xyz="0 0 1"/>
    <origin rpy="0 0 1.8616" xyz="0.02858 0 0"/>
    <limit effort="100" lower="-3.1416" upper="3.1416" velocity="100"/>
  </joint>
  <gazebo reference="finger_1_joint_proximal_actuating_bar">
    <implicitSpringDamper>1</implicitSpringDamper>
  </gazebo>
  <!-- Joint paraproximal bar -->
  <joint name="finger_1_joint_paraproximal_bar" type="revolute">
    <parent link="finger_1_link_paraproximal_actuating_hinge"/>
    <child link="finger_1_link_paraproximal_bar"/>
    <axis xyz="0 0 1"/>
    <origin rpy="0 0 1.57" xyz="0.02286 0 0"/>
    <limit effort="100" lower="-3.1416" upper="3.1416" velocity="100"/>
  </joint>
  <gazebo reference="finger_1_joint_paraproximal_bar">
    <implicitSpringDamper>1</implicitSpringDamper>
  </gazebo>
  <!-- Joint median actuating hinge -->
  <joint name="finger_1_joint_median_actuating_hinge" type="revolute">
    <parent link="finger_1_link_1"/>
    <child link="finger_1_link_median_actuating_hinge"/>
    <axis xyz="0 0 1"/>
    <origin rpy="0 0 -0.37" xyz="0 0.05715 0.01"/>
    <limit effort="100" lower="-3.1416" upper="3.1416" velocity="100"/>
  </joint>
  <gazebo reference="finger_1_joint_median_actuating_hinge">
    <implicitSpringDamper>1</implicitSpringDamper>
  </gazebo>
  <!-- Joint paramedian hinge -->
  <joint name="finger_1_joint_paramedian_hinge" type="revolute">
    <parent link="finger_1_link_1"/>
    <child link="finger_1_link_paramedian_hinge"/>
    <axis xyz="0 0 1"/>
    <!-- -0.37 is hand picked, 0.9719 is hand calculated from atan(0.02381/0.01625) -->
    <origin rpy="0 0 0" xyz="0 0.05715 -0.01"/>
    <limit effort="100" lower="-3.1416" upper="3.1416" velocity="100"/>
  </joint>
  <gazebo reference="finger_1_joint_paramedian_hinge">
    <implicitSpringDamper>1</implicitSpringDamper>
  </gazebo>
  <!-- Joint median actuating hinge median bar -->
  <joint name="finger_1_joint_median_actuating_hinge_median_bar" type="revolute">
    <parent link="finger_1_link_median_actuating_hinge"/>
    <child link="finger_1_link_median_bar"/>
    <axis xyz="0 0 1"/>
    <!-- hand calc 90 deg + atan(0.01516/0.01625) -->
    <origin rpy="0 0 2.3215" xyz="0.01625 0.01516 0"/>
    <limit effort="100" lower="-3.1416" upper="3.1416" velocity="100"/>
  </joint>
  <gazebo reference="finger_1_joint_median_actuating_hinge_median_bar">
    <implicitSpringDamper>1</implicitSpringDamper>
  </gazebo>
  <!-- Joint paradistal hinge -->
  <joint name="finger_1_joint_paradistal_hinge" type="revolute">
    <parent link="finger_1_link_2"/>
    <child link="finger_1_link_paradistal_hinge"/>
    <axis xyz="0 0 1"/>
    <origin rpy="0 0 0" xyz="0 0.039 -0.01"/>
    <limit effort="100" lower="-3.1416" upper="3.1416" velocity="100"/>
  </joint>
  <gazebo reference="finger_1_joint_paradistal_hinge">
    <implicitSpringDamper>1</implicitSpringDamper>
  </gazebo>
  <!-- Joint paramedian hinge median bar underactuated -->
  <joint name="finger_1_joint_paramedian_hinge_median_bar_underactuated" type="revolute">
    <parent link="finger_1_link_paramedian_hinge"/>
    <child link="finger_1_link_median_bar_underactuated"/>
    <axis xyz="0 0 1"/>
    <!-- hand calc 90 deg + atan(0.01227/0.00329) -->
    <origin rpy="0 0 1.5708" xyz="0.01227 0.00329 0"/>
    <limit effort="100" lower="-3.1416" upper="3.1416" velocity="100"/>
  </joint>
  <gazebo reference="finger_1_joint_paramedian_hinge_median_bar_underactuated">
    <implicitSpringDamper>1</implicitSpringDamper>
  </gazebo>
  <!-- Joint 1 -->
  <joint name="finger_1_joint_1" type="revolute">
    <origin rpy="0 0 -2.0906" xyz="0 0 0"/>
    <axis xyz="0 0 1"/>
    <parent link="finger_1_link_0"/>
    <child link="finger_1_link_1"/>
    <dynamics damping="1" friction="0"/>
    <!-- Limits: [0deg.,70deg.] -->
    <limit effort="60" lower="0" upper="1.2217" velocity="-1"/>
  </joint>
  <gazebo reference="finger_1_joint_1">
    <implicitSpringDamper>1</implicitSpringDamper>
  </gazebo>
  <!-- Joint 2 -->
  <joint name="finger_1_joint_2" type="revolute">
    <parent link="finger_1_link_1"/>
    <child link="finger_1_link_2"/>
    <dynamics damping="1" friction="0"/>
    <axis xyz="0 0 1"/>
    <origin rpy="0 0 0" xyz="0 0.05715 0"/>
    <!-- Limits: [0deg.,90deg.] -->
    <limit effort="60" lower="0" upper="1.5708" velocity="-1"/>
  </joint>
  <gazebo reference="finger_1_joint_2">
    <implicitSpringDamper>1</implicitSpringDamper>
  </gazebo>
  <!-- Joint 3 -->
  <joint name="finger_1_joint_3" type="revolute">
    <parent link="finger_1_link_2"/>
    <child link="finger_1_link_3"/>
    <dynamics damping="1" friction="0"/>
    <axis xyz="0 0 1"/>
    <origin rpy="0 0 2.0906" xyz="0 0.039 0"/>
    <!-- Limits: [-38deg.,60deg.] -->
    <limit effort="60" lower="-0.6632" upper="1.0471" velocity="-1"/>
  </joint>
  <gazebo reference="finger_1_joint_3">
    <implicitSpringDamper>1</implicitSpringDamper>
  </gazebo>
  <!-- end of joint list -->
  <!-- coupling joints in sdf -->
  <gazebo>
    <joint name="finger_1_link_proximal_actuating_bar_median_actuating_hinge_couple" type="revolute">
      <parent>finger_1_link_median_actuating_hinge</parent>
      <child>finger_1_link_proximal_actuating_bar</child>
      <pose>0.05398 0 0 0 0 0</pose>
      <axis>
        <dynamics>
          <damping>0</damping>
          <friction>0</friction>
        </dynamics>
        <xyz>0 0 1</xyz>
        <use_parent_model_frame>false</use_parent_model_frame>
      </axis>
    </joint>
  </gazebo>
  <gazebo reference="finger_1_link_proximal_actuating_bar_median_actuating_hinge_couple">
    <implicitSpringDamper>1</implicitSpringDamper>
  </gazebo>
  <gazebo>
    <joint name="finger_1_link_median_bar_link_3_couple" type="revolute">
      <parent>finger_1_link_3</parent>
      <child>finger_1_link_median_bar</child>
      <pose>0.0381 0 0 0 0 0</pose>
      <axis>
        <dynamics>
          <damping>0</damping>
          <friction>0</friction>
        </dynamics>
        <xyz>0 0 1</xyz>
        <use_parent_model_frame>false</use_parent_model_frame>
      </axis>
    </joint>
  </gazebo>
  <gazebo reference="finger_1_link_median_bar_link_3_couple">
    <implicitSpringDamper>1</implicitSpringDamper>
  </gazebo>
  <gazebo>
    <joint name="finger_1_link_paramedian_bar_paradistal_hinge_couple" type="revolute">
      <parent>finger_1_link_paradistal_hinge</parent>
      <child>finger_1_link_median_bar_underactuated</child>
      <pose>0.0381 0 0 0 0 0</pose>
      <axis>
        <dynamics>
          <damping>0</damping>
          <friction>0</friction>
        </dynamics>
        <xyz>0 0 1</xyz>
        <use_parent_model_frame>false</use_parent_model_frame>
      </axis>
    </joint>
  </gazebo>
  <gazebo reference="finger_1_link_median_bar_link_3_couple">
    <implicitSpringDamper>1</implicitSpringDamper>
  </gazebo>
  <gazebo>
    <joint name="finger_1_link_paradistal_hinge_link_3_couple" type="revolute">
      <parent>finger_1_link_paradistal_hinge</parent>
      <child>finger_1_link_3</child>
      <pose>0.0381 0 0 0 0 0</pose>
      <axis>
        <dynamics>
          <damping>0</damping>
          <friction>0</friction>
        </dynamics>
        <xyz>0 0 1</xyz>
        <use_parent_model_frame>false</use_parent_model_frame>
      </axis>
    </joint>
  </gazebo>
  <gazebo reference="finger_1_link_paradistal_hinge_link_3_couple">
    <implicitSpringDamper>1</implicitSpringDamper>
  </gazebo>
  <gazebo>
    <joint name="finger_1_link_paraproximal_bar_paramedian_hinge_couple" type="revolute">
      <parent>finger_1_link_paramedian_hinge</parent>
      <child>finger_1_link_paraproximal_bar</child>
      <pose>0.05770 0 0 0 0 0</pose>
      <axis>
        <dynamics>
          <damping>0</damping>
          <friction>0</friction>
        </dynamics>
        <xyz>0 0 1</xyz>
        <use_parent_model_frame>false</use_parent_model_frame>
      </axis>
    </joint>
  </gazebo>
  <gazebo reference="finger_1_link_paraproximal_bar_paramedian_hinge_couple">
    <implicitSpringDamper>1</implicitSpringDamper>
  </gazebo>
  
 --&gt;

  
  <!-- Link list -->
  <!-- Link 0 -->
  <link name="finger_2_link_0">
    <visual>
      <origin rpy="0 0 0" xyz="0 0 0"/>
      <geometry>
        <mesh filename="package://iiwa_3finger_description/meshes/visual/link_0.STL"/>
      </geometry>
      <material name="Grey">
        <!-- <color rgba="0 1 0 1"/> -->
      </material>
    </visual>
    <collision>
      <origin rpy="0 0 0" xyz="0 0 0"/>
      <geometry>
        <mesh filename="package://iiwa_tool_description/meshes/collision/link_0.STL"/>
      </geometry>
      <material name="Grey">
        <!-- <color rgba="0 1 1 1"/> -->
      </material>
    </collision>
    <inertial>
      <mass value="0.1"/>
      <origin xyz="-0.01 0 0"/>
      <inertia ixx="0.000018" ixy="0" ixz="0" iyy="0.000025" iyz="0" izz="0.000025"/>
    </inertial>
  </link>
  <gazebo reference="finger_2_link_0">
    <mu1>1.1</mu1>
    <mu2>1.1</mu2>
  </gazebo>
  <!-- Link 1 -->
  <link name="finger_2_link_1">
    <visual>
      <origin rpy="0 0 1.5708" xyz="0 0.05717 0"/>
      <geometry>
        <mesh filename="package://iiwa_tool_description/meshes/visual/link_1.STL"/>
      </geometry>
      <material name="Grey"/>
    </visual>
    <collision>
      <origin rpy="0 0 1.5708" xyz="0 0.05717 0"/>
      <geometry>
        <mesh filename="package://iiwa_tool_description/meshes/collision/link_1.STL"/>
      </geometry>
      <material name="Grey">
        <!-- <color rgba="0 1 1 1"/> -->
      </material>
    </collision>
    <inertial>
      <origin rpy="0 0 1.5708" xyz="0.00053 0.03218 0"/>
      <mass value="0.047"/>
      <inertia ixx="0.00000499332" ixy="0.00000091312" ixz="-0.00000000120" iyy="0.00006434531" iyz="-0.00000000007" izz="0.00006061917"/>
    </inertial>
  </link>
  <gazebo reference="finger_2_link_1">
    <mu1>1.1</mu1>
    <mu2>1.1</mu2>
    <minDepth>0.001</minDepth>
  </gazebo>
  <!-- Link 2 -->
  <link name="finger_2_link_2">
    <visual>
      <origin rpy="0 0 1.5708" xyz="0 0.03810 0.0075"/>
      <geometry>
        <mesh filename="package://iiwa_tool_description/meshes/visual/link_2.STL"/>
      </geometry>
      <material name="Grey"/>
    </visual>
    <collision>
      <origin rpy="0 0 1.5708" xyz="0 0.03810 0.0075"/>
      <geometry>
        <mesh filename="package://iiwa_tool_description/meshes/collision/link_2.STL"/>
      </geometry>
      <material name="Grey"/>
    </collision>
    <inertial>
      <origin rpy="0 0 1.5708" xyz="0.00048 0.02167 0.00018"/>
      <mass value="0.03284"/>
      <inertia ixx="0.00000348008" ixy="0.00000031940" ixz="0.00000013041" iyy="0.00002248123" iyz="0.00000000291" izz="0.00001986346"/>
    </inertial>
  </link>
  <gazebo reference="finger_2_link_2">
    <mu1>1.1</mu1>
    <mu2>1.1</mu2>
    <minDepth>0.001</minDepth>
  </gazebo>
  <!-- Link 3 -->
  <link name="finger_2_link_3">
    <visual>
      <origin rpy="0 0 0" xyz="0 0 0"/>
      <geometry>
        <mesh filename="package://iiwa_tool_description/meshes/visual/link_3.STL"/>
      </geometry>
      <material name="Grey"/>
    </visual>
    <collision>
      <origin rpy="0 0 0" xyz="0 0 0"/>
      <geometry>
        <mesh filename="package://iiwa_tool_description/meshes/collision/link_3.STL"/>
      </geometry>
      <material name="Grey"/>
    </collision>
    <inertial>
      <origin rpy="0 0 0" xyz="0.01626 0.00049 0.0002"/>
      <mass value="0.03354"/>
      <inertia ixx="0.00000305151" ixy="0.00000089792" ixz="0.00000000249" iyy="0.00001427978" iyz="-0.00000001191" izz="0.00001264126"/>
    </inertial>
  </link>
  <gazebo reference="finger_2_link_3">
    <mu1>1.1</mu1>
    <mu2>1.1</mu2>
    <minDepth>0.001</minDepth>
  </gazebo>
  <!-- Link proximal actuating hinge -->
  <link name="finger_2_link_proximal_actuating_hinge">
    <visual>
      <origin rpy="0 0 0" xyz="0.01429 0 0"/>
      <geometry>
        <box size="0.02858 .0075 .002"/>
      </geometry>
    </visual>
    <collision>
      <origin rpy="0 0 0" xyz="0.01429 0 0"/>
      <geometry>
        <box size="0.02858 .0075 .002"/>
      </geometry>
    </collision>
    <inertial>
      <origin rpy="0 0 0" xyz="0.0012 -0.00162 -0.00161"/>
      <mass value="0.02647"/>
      <inertia ixx="0.00000156447" ixy="0.000000236226" ixz="-0.00000014862" iyy="0.00000221068" iyz="-0.00000014369" izz="0.00000323175"/>
    </inertial>
  </link>
  <gazebo reference="finger_2_link_proximal_actuating_hinge">
    <mu1>1.1</mu1>
    <mu2>1.1</mu2>
  </gazebo>
  <!-- Link paraproximal actuating hinge -->
  <link name="finger_2_link_paraproximal_actuating_hinge">
    <visual>
      <origin rpy="0 0 0" xyz="0.01143 0 0"/>
      <geometry>
        <box size="0.02286 .0075 .002"/>
      </geometry>
    </visual>
    <collision>
      <origin rpy="0 0 0" xyz="0.01143 0 0"/>
      <geometry>
        <box size="0.02286 .0075 .002"/>
      </geometry>
    </collision>
    <inertial>
      <origin rpy="0 0 0" xyz="0.0064 0 0"/>
      <!-- copied from proximal_actuating_hinge -->
      <mass value="0.00362"/>
      <inertia ixx="0.00000012043" ixy="0" ixz="0" iyy="0.00000053588" iyz="0" izz="0.00000065322"/>
    </inertial>
  </link>
  <gazebo reference="finger_2_link_paraproximal_actuating_hinge">
    <mu1>1.1</mu1>
    <mu2>1.1</mu2>
  </gazebo>
  <!-- Link proximal actuating bar -->
  <link name="finger_2_link_proximal_actuating_bar">
    <visual>
      <origin rpy="0 0 0" xyz="0.026789 0 0"/>
      <geometry>
        <box size="0.05398 .0075 .002"/>
      </geometry>
    </visual>
    <collision>
      <origin rpy="0 0 0" xyz="0.026789 0 0"/>
      <geometry>
        <box size="0.05398 .0075 .002"/>
      </geometry>
    </collision>
    <inertial>
      <origin rpy="0 0 0" xyz="0.02699 -0.00122 0"/>
      <mass value="0.00659"/>
      <inertia ixx="0.00000008348" ixy="-0.0000002179" ixz="0.00000000134" iyy="0.00000719076" iyz="0" izz="0.00000718272"/>
    </inertial>
  </link>
  <gazebo reference="finger_2_link_proximal_actuating_bar">
    <mu1>1.1</mu1>
    <mu2>1.1</mu2>
  </gazebo>
  <!-- Link paraproximal bar -->
  <link name="finger_2_link_paraproximal_bar">
    <visual>
      <origin rpy="0 0 0" xyz="0.02885 0 0"/>
      <geometry>
        <box size="0.05770 .0075 .002"/>
      </geometry>
    </visual>
    <collision>
      <origin rpy="0 0 0" xyz="0.02885 0 0"/>
      <geometry>
        <box size="0.05770 .0075 .002"/>
      </geometry>
    </collision>
    <inertial>
      <origin rpy="0 0 0" xyz="0.02858 -0.00129 0"/>
      <mass value="0.00732"/>
      <inertia ixx="0.00000009065" ixy="-0.00000027047" ixz="0.00000000142" iyy="0.00000878034" iyz="0" izz="0.00000877558"/>
    </inertial>
  </link>
  <gazebo reference="finger_2_link_paraproximal_bar">
    <mu1>1.1</mu1>
    <mu2>1.1</mu2>
  </gazebo>
  <!-- Link median actuating hinge -->
  <link name="finger_2_link_median_actuating_hinge">
    <visual>
      <origin rpy="0 0 0" xyz="0 0 0"/>
      <geometry>
        <box size=".02 .02 .002"/>
      </geometry>
    </visual>
    <collision>
      <origin rpy="0 0 0" xyz="0 0 0"/>
      <geometry>
        <box size=".02 .02 .002"/>
      </geometry>
    </collision>
    <inertial>
      <origin rpy="0 0 0" xyz="0.0092 0.00514 0"/>
      <mass value="0.00359"/>
      <inertia ixx="0.00000024735" ixy="0.00000023619" ixz="0" iyy="0.00000047681" iyz="0" izz="0.00000071813"/>
    </inertial>
  </link>
  <gazebo reference="finger_2_link_median_actuating_hinge">
    <mu1>1.1</mu1>
    <mu2>1.1</mu2>
  </gazebo>
  <!-- Link median bar -->
  <link name="finger_2_link_median_bar">
    <visual>
      <origin rpy="0 0 0" xyz="0.01905 0 0"/>
      <geometry>
        <box size="0.0381 .0075 .002"/>
      </geometry>
    </visual>
    <collision>
      <origin rpy="0 0 0" xyz="0.01905 0 0"/>
      <geometry>
        <box size="0.0381 .0075 .002"/>
      </geometry>
    </collision>
    <inertial>
      <origin rpy="0 0 0" xyz="0.01905 -0.00107 0"/>
      <mass value="0.00538"/>
      <inertia ixx="0.00000006639" ixy="-0.00000010996" ixz="0.00000000094" iyy="0.00000305318" iyz="0" izz="0.00000304657"/>
    </inertial>
  </link>
  <gazebo reference="finger_2_link_median_bar">
    <mu1>1.1</mu1>
    <mu2>1.1</mu2>
  </gazebo>
  <!-- Link paramedian hinge -->
  <link name="finger_2_link_paramedian_hinge">
    <visual>
      <origin rpy="0 0 0" xyz="0 0 0"/>
      <geometry>
        <box size=".02 .02 .002"/>
      </geometry>
    </visual>
    <collision>
      <origin rpy="0 0 0" xyz="0 0 0"/>
      <geometry>
        <box size=".02 .02 .002"/>
      </geometry>
    </collision>
    <inertial>
      <origin rpy="0 0 0" xyz="-0.01025 0.00046 0"/>
      <mass value="0.00276"/>
      <inertia ixx="0.00000004213" ixy="-0.00000001491" ixz="0" iyy="0.00000050258" iyz="0" izz="0.00000054007"/>
    </inertial>
  </link>
  <gazebo reference="finger_2_link_paramedian_hinge">
    <mu1>1.1</mu1>
    <mu2>1.1</mu2>
  </gazebo>
  <!-- Link median bar underactuated -->
  <link name="finger_2_link_median_bar_underactuated">
    <visual>
      <origin rpy="0 0 0" xyz="0.01905 0 0"/>
      <geometry>
        <box size="0.0381 .0075 .002"/>
      </geometry>
    </visual>
    <collision>
      <origin rpy="0 0 0" xyz="0.01905 0 0"/>
      <geometry>
        <box size="0.0381 .0075 .002"/>
      </geometry>
    </collision>
    <inertial>
      <origin rpy="0 0 0" xyz="0.01905 -0.00107 0"/>
      <mass value="0.00538"/>
      <inertia ixx="0.00000006639" ixy="-0.00000010996" ixz="-0.00000000094" iyy="0.00000305318" iyz="0" izz="0.00000304657"/>
    </inertial>
  </link>
  <gazebo reference="finger_2_link_median_bar_underactuated">
    <mu1>1.1</mu1>
    <mu2>1.1</mu2>
  </gazebo>
  <!-- Link paradistal hinge -->
  <link name="finger_2_link_paradistal_hinge">
    <visual>
      <origin rpy="0 0 0" xyz="0 0 0"/>
      <geometry>
        <box size=".02 .02 .002"/>
      </geometry>
    </visual>
    <collision>
      <origin rpy="0 0 0" xyz="0 0 0"/>
      <geometry>
        <box size=".02 0.02 .002"/>
      </geometry>
    </collision>
    <inertial>
      <origin rpy="0 0 0" xyz="0.00548 0 0"/>
      <mass value="0.00158"/>
      <inertia ixx="0.00000001907" ixy="0" ixz="0" iyy="0.00000010970" iyz="0" izz="0.00000012610"/>
    </inertial>
  </link>
  <gazebo reference="finger_2_link_paradistal_hinge">
    <mu1>1.1</mu1>
    <mu2>1.1</mu2>
  </gazebo>
  <!-- End of link list -->
  <!-- Joint list -->
  <!-- Joint proximal actuating hinge -->
  <joint name="finger_2_joint_proximal_actuating_hinge" type="revolute">
    <parent link="finger_2_link_0"/>
    <child link="finger_2_link_proximal_actuating_hinge"/>
    <axis xyz="0 0 1"/>
    <origin rpy="0 0 -2.0906" xyz="0 0 0.01"/>
    <limit effort="100" lower="-3.1416" upper="3.1416" velocity="100"/>
  </joint>
  <gazebo reference="finger_2_joint_proximal_actuating_hinge">
    <implicitSpringDamper>1</implicitSpringDamper>
  </gazebo>
  <!-- Joint paraproximal actuating hinge -->
  <joint name="finger_2_joint_paraproximal_actuating_hinge" type="revolute">
    <parent link="finger_2_link_0"/>
    <child link="finger_2_link_paraproximal_actuating_hinge"/>
    <axis xyz="0 0 1"/>
    <origin rpy="0 0 -2.0906" xyz="0 0 -0.01"/>
    <limit effort="100" lower="-3.1416" upper="3.1416" velocity="100"/>
  </joint>
  <gazebo reference="finger_2_joint_paraproximal_actuating_hinge">
    <implicitSpringDamper>1</implicitSpringDamper>
  </gazebo>
  <!-- Joint proximal actuating bar -->
  <joint name="finger_2_joint_proximal_actuating_bar" type="revolute">
    <parent link="finger_2_link_proximal_actuating_hinge"/>
    <child link="finger_2_link_proximal_actuating_bar"/>
    <axis xyz="0 0 1"/>
    <origin rpy="0 0 1.8616" xyz="0.02858 0 0"/>
    <limit effort="100" lower="-3.1416" upper="3.1416" velocity="100"/>
  </joint>
  <gazebo reference="finger_2_joint_proximal_actuating_bar">
    <implicitSpringDamper>1</implicitSpringDamper>
  </gazebo>
  <!-- Joint paraproximal bar -->
  <joint name="finger_2_joint_paraproximal_bar" type="revolute">
    <parent link="finger_2_link_paraproximal_actuating_hinge"/>
    <child link="finger_2_link_paraproximal_bar"/>
    <axis xyz="0 0 1"/>
    <origin rpy="0 0 1.57" xyz="0.02286 0 0"/>
    <limit effort="100" lower="-3.1416" upper="3.1416" velocity="100"/>
  </joint>
  <gazebo reference="finger_2_joint_paraproximal_bar">
    <implicitSpringDamper>1</implicitSpringDamper>
  </gazebo>
  <!-- Joint median actuating hinge -->
  <joint name="finger_2_joint_median_actuating_hinge" type="revolute">
    <parent link="finger_2_link_1"/>
    <child link="finger_2_link_median_actuating_hinge"/>
    <axis xyz="0 0 1"/>
    <origin rpy="0 0 -0.37" xyz="0 0.05715 0.01"/>
    <limit effort="100" lower="-3.1416" upper="3.1416" velocity="100"/>
  </joint>
  <gazebo reference="finger_2_joint_median_actuating_hinge">
    <implicitSpringDamper>1</implicitSpringDamper>
  </gazebo>
  <!-- Joint paramedian hinge -->
  <joint name="finger_2_joint_paramedian_hinge" type="revolute">
    <parent link="finger_2_link_1"/>
    <child link="finger_2_link_paramedian_hinge"/>
    <axis xyz="0 0 1"/>
    <!-- -0.37 is hand picked, 0.9719 is hand calculated from atan(0.02381/0.01625) -->
    <origin rpy="0 0 0" xyz="0 0.05715 -0.01"/>
    <limit effort="100" lower="-3.1416" upper="3.1416" velocity="100"/>
  </joint>
  <gazebo reference="finger_2_joint_paramedian_hinge">
    <implicitSpringDamper>1</implicitSpringDamper>
  </gazebo>
  <!-- Joint median actuating hinge median bar -->
  <joint name="finger_2_joint_median_actuating_hinge_median_bar" type="revolute">
    <parent link="finger_2_link_median_actuating_hinge"/>
    <child link="finger_2_link_median_bar"/>
    <axis xyz="0 0 1"/>
    <!-- hand calc 90 deg + atan(0.01516/0.01625) -->
    <origin rpy="0 0 2.3215" xyz="0.01625 0.01516 0"/>
    <limit effort="100" lower="-3.1416" upper="3.1416" velocity="100"/>
  </joint>
  <gazebo reference="finger_2_joint_median_actuating_hinge_median_bar">
    <implicitSpringDamper>1</implicitSpringDamper>
  </gazebo>
  <!-- Joint paradistal hinge -->
  <joint name="finger_2_joint_paradistal_hinge" type="revolute">
    <parent link="finger_2_link_2"/>
    <child link="finger_2_link_paradistal_hinge"/>
    <axis xyz="0 0 1"/>
    <origin rpy="0 0 0" xyz="0 0.039 -0.01"/>
    <limit effort="100" lower="-3.1416" upper="3.1416" velocity="100"/>
  </joint>
  <gazebo reference="finger_2_joint_paradistal_hinge">
    <implicitSpringDamper>1</implicitSpringDamper>
  </gazebo>
  <!-- Joint paramedian hinge median bar underactuated -->
  <joint name="finger_2_joint_paramedian_hinge_median_bar_underactuated" type="revolute">
    <parent link="finger_2_link_paramedian_hinge"/>
    <child link="finger_2_link_median_bar_underactuated"/>
    <axis xyz="0 0 1"/>
    <!-- hand calc 90 deg + atan(0.01227/0.00329) -->
    <origin rpy="0 0 1.5708" xyz="0.01227 0.00329 0"/>
    <limit effort="100" lower="-3.1416" upper="3.1416" velocity="100"/>
  </joint>
  <gazebo reference="finger_2_joint_paramedian_hinge_median_bar_underactuated">
    <implicitSpringDamper>1</implicitSpringDamper>
  </gazebo>
  <!-- Joint 1 -->
  <joint name="finger_2_joint_1" type="revolute">
    <origin rpy="0 0 -2.0906" xyz="0 0 0"/>
    <axis xyz="0 0 1"/>
    <parent link="finger_2_link_0"/>
    <child link="finger_2_link_1"/>
    <dynamics damping="1" friction="0"/>
    <!-- Limits: [0deg.,70deg.] -->
    <limit effort="60" lower="0" upper="1.2217" velocity="-1"/>
  </joint>
  <gazebo reference="finger_2_joint_1">
    <implicitSpringDamper>1</implicitSpringDamper>
  </gazebo>
  <!-- Joint 2 -->
  <joint name="finger_2_joint_2" type="revolute">
    <parent link="finger_2_link_1"/>
    <child link="finger_2_link_2"/>
    <dynamics damping="1" friction="0"/>
    <axis xyz="0 0 1"/>
    <origin rpy="0 0 0" xyz="0 0.05715 0"/>
    <!-- Limits: [0deg.,90deg.] -->
    <limit effort="60" lower="0" upper="1.5708" velocity="-1"/>
  </joint>
  <gazebo reference="finger_2_joint_2">
    <implicitSpringDamper>1</implicitSpringDamper>
  </gazebo>
  <!-- Joint 3 -->
  <joint name="finger_2_joint_3" type="revolute">
    <parent link="finger_2_link_2"/>
    <child link="finger_2_link_3"/>
    <dynamics damping="1" friction="0"/>
    <axis xyz="0 0 1"/>
    <origin rpy="0 0 2.0906" xyz="0 0.039 0"/>
    <!-- Limits: [-38deg.,60deg.] -->
    <limit effort="60" lower="-0.6632" upper="1.0471" velocity="-1"/>
  </joint>
  <gazebo reference="finger_2_joint_3">
    <implicitSpringDamper>1</implicitSpringDamper>
  </gazebo>
  <!-- end of joint list -->
  <!-- coupling joints in sdf -->
  <gazebo>
    <joint name="finger_2_link_proximal_actuating_bar_median_actuating_hinge_couple" type="revolute">
      <parent>finger_2_link_median_actuating_hinge</parent>
      <child>finger_2_link_proximal_actuating_bar</child>
      <pose>0.05398 0 0 0 0 0</pose>
      <axis>
        <dynamics>
          <damping>0</damping>
          <friction>0</friction>
        </dynamics>
        <xyz>0 0 1</xyz>
        <use_parent_model_frame>false</use_parent_model_frame>
      </axis>
    </joint>
  </gazebo>
  <gazebo reference="finger_2_link_proximal_actuating_bar_median_actuating_hinge_couple">
    <implicitSpringDamper>1</implicitSpringDamper>
  </gazebo>
  <gazebo>
    <joint name="finger_2_link_median_bar_link_3_couple" type="revolute">
      <parent>finger_2_link_3</parent>
      <child>finger_2_link_median_bar</child>
      <pose>0.0381 0 0 0 0 0</pose>
      <axis>
        <dynamics>
          <damping>0</damping>
          <friction>0</friction>
        </dynamics>
        <xyz>0 0 1</xyz>
        <use_parent_model_frame>false</use_parent_model_frame>
      </axis>
    </joint>
  </gazebo>
  <gazebo reference="finger_2_link_median_bar_link_3_couple">
    <implicitSpringDamper>1</implicitSpringDamper>
  </gazebo>
  <gazebo>
    <joint name="finger_2_link_paramedian_bar_paradistal_hinge_couple" type="revolute">
      <parent>finger_2_link_paradistal_hinge</parent>
      <child>finger_2_link_median_bar_underactuated</child>
      <pose>0.0381 0 0 0 0 0</pose>
      <axis>
        <dynamics>
          <damping>0</damping>
          <friction>0</friction>
        </dynamics>
        <xyz>0 0 1</xyz>
        <use_parent_model_frame>false</use_parent_model_frame>
      </axis>
    </joint>
  </gazebo>
  <gazebo reference="finger_2_link_median_bar_link_3_couple">
    <implicitSpringDamper>1</implicitSpringDamper>
  </gazebo>
  <gazebo>
    <joint name="finger_2_link_paradistal_hinge_link_3_couple" type="revolute">
      <parent>finger_2_link_paradistal_hinge</parent>
      <child>finger_2_link_3</child>
      <pose>0.0381 0 0 0 0 0</pose>
      <axis>
        <dynamics>
          <damping>0</damping>
          <friction>0</friction>
        </dynamics>
        <xyz>0 0 1</xyz>
        <use_parent_model_frame>false</use_parent_model_frame>
      </axis>
    </joint>
  </gazebo>
  <gazebo reference="finger_2_link_paradistal_hinge_link_3_couple">
    <implicitSpringDamper>1</implicitSpringDamper>
  </gazebo>
  <gazebo>
    <joint name="finger_2_link_paraproximal_bar_paramedian_hinge_couple" type="revolute">
      <parent>finger_2_link_paramedian_hinge</parent>
      <child>finger_2_link_paraproximal_bar</child>
      <pose>0.05770 0 0 0 0 0</pose>
      <axis>
        <dynamics>
          <damping>0</damping>
          <friction>0</friction>
        </dynamics>
        <xyz>0 0 1</xyz>
        <use_parent_model_frame>false</use_parent_model_frame>
      </axis>
    </joint>
  </gazebo>
  <gazebo reference="finger_2_link_paraproximal_bar_paramedian_hinge_couple">
    <implicitSpringDamper>1</implicitSpringDamper>
  </gazebo>
  
 --&gt;

  
  <!-- Link list -->
  <!-- Link 0 -->
  <link name="finger_middle_link_0">
    <visual>
      <origin rpy="0 0 0" xyz="0 0 0"/>
      <geometry>
        <mesh filename="package://iiwa_3finger_description/meshes/visual/link_0.STL"/>
      </geometry>
      <material name="Grey">
        <!-- <color rgba="0 1 0 1"/> -->
      </material>
    </visual>
    <collision>
      <origin rpy="0 0 0" xyz="0 0 0"/>
      <geometry>
        <mesh filename="package://iiwa_tool_description/meshes/collision/link_0.STL"/>
      </geometry>
      <material name="Grey">
        <!-- <color rgba="0 1 1 1"/> -->
      </material>
    </collision>
    <inertial>
      <mass value="0.1"/>
      <origin xyz="-0.01 0 0"/>
      <inertia ixx="0.000018" ixy="0" ixz="0" iyy="0.000025" iyz="0" izz="0.000025"/>
    </inertial>
  </link>
  <gazebo reference="finger_middle_link_0">
    <mu1>1.1</mu1>
    <mu2>1.1</mu2>
  </gazebo>
  <!-- Link 1 -->
  <link name="finger_middle_link_1">
    <visual>
      <origin rpy="0 0 1.5708" xyz="0 0.05717 0"/>
      <geometry>
        <mesh filename="package://iiwa_tool_description/meshes/visual/link_1.STL"/>
      </geometry>
      <material name="Grey"/>
    </visual>
    <collision>
      <origin rpy="0 0 1.5708" xyz="0 0.05717 0"/>
      <geometry>
        <mesh filename="package://iiwa_tool_description/meshes/collision/link_1.STL"/>
      </geometry>
      <material name="Grey">
        <!-- <color rgba="0 1 1 1"/> -->
      </material>
    </collision>
    <inertial>
      <origin rpy="0 0 1.5708" xyz="0.00053 0.03218 0"/>
      <mass value="0.047"/>
      <inertia ixx="0.00000499332" ixy="0.00000091312" ixz="-0.00000000120" iyy="0.00006434531" iyz="-0.00000000007" izz="0.00006061917"/>
    </inertial>
  </link>
  <gazebo reference="finger_middle_link_1">
    <mu1>1.1</mu1>
    <mu2>1.1</mu2>
    <minDepth>0.001</minDepth>
  </gazebo>
  <!-- Link 2 -->
  <link name="finger_middle_link_2">
    <visual>
      <origin rpy="0 0 1.5708" xyz="0 0.03810 0.0075"/>
      <geometry>
        <mesh filename="package://iiwa_tool_description/meshes/visual/link_2.STL"/>
      </geometry>
      <material name="Grey"/>
    </visual>
    <collision>
      <origin rpy="0 0 1.5708" xyz="0 0.03810 0.0075"/>
      <geometry>
        <mesh filename="package://iiwa_tool_description/meshes/collision/link_2.STL"/>
      </geometry>
      <material name="Grey"/>
    </collision>
    <inertial>
      <origin rpy="0 0 1.5708" xyz="0.00048 0.02167 0.00018"/>
      <mass value="0.03284"/>
      <inertia ixx="0.00000348008" ixy="0.00000031940" ixz="0.00000013041" iyy="0.00002248123" iyz="0.00000000291" izz="0.00001986346"/>
    </inertial>
  </link>
  <gazebo reference="finger_middle_link_2">
    <mu1>1.1</mu1>
    <mu2>1.1</mu2>
    <minDepth>0.001</minDepth>
  </gazebo>
  <!-- Link 3 -->
  <link name="finger_middle_link_3">
    <visual>
      <origin rpy="0 0 0" xyz="0 0 0"/>
      <geometry>
        <mesh filename="package://iiwa_tool_description/meshes/visual/link_3.STL"/>
      </geometry>
      <material name="Grey"/>
    </visual>
    <collision>
      <origin rpy="0 0 0" xyz="0 0 0"/>
      <geometry>
        <mesh filename="package://iiwa_tool_description/meshes/collision/link_3.STL"/>
      </geometry>
      <material name="Grey"/>
    </collision>
    <inertial>
      <origin rpy="0 0 0" xyz="0.01626 0.00049 0.0002"/>
      <mass value="0.03354"/>
      <inertia ixx="0.00000305151" ixy="0.00000089792" ixz="0.00000000249" iyy="0.00001427978" iyz="-0.00000001191" izz="0.00001264126"/>
    </inertial>
  </link>
  <gazebo reference="finger_middle_link_3">
    <mu1>1.1</mu1>
    <mu2>1.1</mu2>
    <minDepth>0.001</minDepth>
  </gazebo>
  <!-- Link proximal actuating hinge -->
  <link name="finger_middle_link_proximal_actuating_hinge">
    <visual>
      <origin rpy="0 0 0" xyz="0.01429 0 0"/>
      <geometry>
        <box size="0.02858 .0075 .002"/>
      </geometry>
    </visual>
    <collision>
      <origin rpy="0 0 0" xyz="0.01429 0 0"/>
      <geometry>
        <box size="0.02858 .0075 .002"/>
      </geometry>
    </collision>
    <inertial>
      <origin rpy="0 0 0" xyz="0.0012 -0.00162 -0.00161"/>
      <mass value="0.02647"/>
      <inertia ixx="0.00000156447" ixy="0.000000236226" ixz="-0.00000014862" iyy="0.00000221068" iyz="-0.00000014369" izz="0.00000323175"/>
    </inertial>
  </link>
  <gazebo reference="finger_middle_link_proximal_actuating_hinge">
    <mu1>1.1</mu1>
    <mu2>1.1</mu2>
  </gazebo>
  <!-- Link paraproximal actuating hinge -->
  <link name="finger_middle_link_paraproximal_actuating_hinge">
    <visual>
      <origin rpy="0 0 0" xyz="0.01143 0 0"/>
      <geometry>
        <box size="0.02286 .0075 .002"/>
      </geometry>
    </visual>
    <collision>
      <origin rpy="0 0 0" xyz="0.01143 0 0"/>
      <geometry>
        <box size="0.02286 .0075 .002"/>
      </geometry>
    </collision>
    <inertial>
      <origin rpy="0 0 0" xyz="0.0064 0 0"/>
      <!-- copied from proximal_actuating_hinge -->
      <mass value="0.00362"/>
      <inertia ixx="0.00000012043" ixy="0" ixz="0" iyy="0.00000053588" iyz="0" izz="0.00000065322"/>
    </inertial>
  </link>
  <gazebo reference="finger_middle_link_paraproximal_actuating_hinge">
    <mu1>1.1</mu1>
    <mu2>1.1</mu2>
  </gazebo>
  <!-- Link proximal actuating bar -->
  <link name="finger_middle_link_proximal_actuating_bar">
    <visual>
      <origin rpy="0 0 0" xyz="0.026789 0 0"/>
      <geometry>
        <box size="0.05398 .0075 .002"/>
      </geometry>
    </visual>
    <collision>
      <origin rpy="0 0 0" xyz="0.026789 0 0"/>
      <geometry>
        <box size="0.05398 .0075 .002"/>
      </geometry>
    </collision>
    <inertial>
      <origin rpy="0 0 0" xyz="0.02699 -0.00122 0"/>
      <mass value="0.00659"/>
      <inertia ixx="0.00000008348" ixy="-0.0000002179" ixz="0.00000000134" iyy="0.00000719076" iyz="0" izz="0.00000718272"/>
    </inertial>
  </link>
  <gazebo reference="finger_middle_link_proximal_actuating_bar">
    <mu1>1.1</mu1>
    <mu2>1.1</mu2>
  </gazebo>
  <!-- Link paraproximal bar -->
  <link name="finger_middle_link_paraproximal_bar">
    <visual>
      <origin rpy="0 0 0" xyz="0.02885 0 0"/>
      <geometry>
        <box size="0.05770 .0075 .002"/>
      </geometry>
    </visual>
    <collision>
      <origin rpy="0 0 0" xyz="0.02885 0 0"/>
      <geometry>
        <box size="0.05770 .0075 .002"/>
      </geometry>
    </collision>
    <inertial>
      <origin rpy="0 0 0" xyz="0.02858 -0.00129 0"/>
      <mass value="0.00732"/>
      <inertia ixx="0.00000009065" ixy="-0.00000027047" ixz="0.00000000142" iyy="0.00000878034" iyz="0" izz="0.00000877558"/>
    </inertial>
  </link>
  <gazebo reference="finger_middle_link_paraproximal_bar">
    <mu1>1.1</mu1>
    <mu2>1.1</mu2>
  </gazebo>
  <!-- Link median actuating hinge -->
  <link name="finger_middle_link_median_actuating_hinge">
    <visual>
      <origin rpy="0 0 0" xyz="0 0 0"/>
      <geometry>
        <box size=".02 .02 .002"/>
      </geometry>
    </visual>
    <collision>
      <origin rpy="0 0 0" xyz="0 0 0"/>
      <geometry>
        <box size=".02 .02 .002"/>
      </geometry>
    </collision>
    <inertial>
      <origin rpy="0 0 0" xyz="0.0092 0.00514 0"/>
      <mass value="0.00359"/>
      <inertia ixx="0.00000024735" ixy="0.00000023619" ixz="0" iyy="0.00000047681" iyz="0" izz="0.00000071813"/>
    </inertial>
  </link>
  <gazebo reference="finger_middle_link_median_actuating_hinge">
    <mu1>1.1</mu1>
    <mu2>1.1</mu2>
  </gazebo>
  <!-- Link median bar -->
  <link name="finger_middle_link_median_bar">
    <visual>
      <origin rpy="0 0 0" xyz="0.01905 0 0"/>
      <geometry>
        <box size="0.0381 .0075 .002"/>
      </geometry>
    </visual>
    <collision>
      <origin rpy="0 0 0" xyz="0.01905 0 0"/>
      <geometry>
        <box size="0.0381 .0075 .002"/>
      </geometry>
    </collision>
    <inertial>
      <origin rpy="0 0 0" xyz="0.01905 -0.00107 0"/>
      <mass value="0.00538"/>
      <inertia ixx="0.00000006639" ixy="-0.00000010996" ixz="0.00000000094" iyy="0.00000305318" iyz="0" izz="0.00000304657"/>
    </inertial>
  </link>
  <gazebo reference="finger_middle_link_median_bar">
    <mu1>1.1</mu1>
    <mu2>1.1</mu2>
  </gazebo>
  <!-- Link paramedian hinge -->
  <link name="finger_middle_link_paramedian_hinge">
    <visual>
      <origin rpy="0 0 0" xyz="0 0 0"/>
      <geometry>
        <box size=".02 .02 .002"/>
      </geometry>
    </visual>
    <collision>
      <origin rpy="0 0 0" xyz="0 0 0"/>
      <geometry>
        <box size=".02 .02 .002"/>
      </geometry>
    </collision>
    <inertial>
      <origin rpy="0 0 0" xyz="-0.01025 0.00046 0"/>
      <mass value="0.00276"/>
      <inertia ixx="0.00000004213" ixy="-0.00000001491" ixz="0" iyy="0.00000050258" iyz="0" izz="0.00000054007"/>
    </inertial>
  </link>
  <gazebo reference="finger_middle_link_paramedian_hinge">
    <mu1>1.1</mu1>
    <mu2>1.1</mu2>
  </gazebo>
  <!-- Link median bar underactuated -->
  <link name="finger_middle_link_median_bar_underactuated">
    <visual>
      <origin rpy="0 0 0" xyz="0.01905 0 0"/>
      <geometry>
        <box size="0.0381 .0075 .002"/>
      </geometry>
    </visual>
    <collision>
      <origin rpy="0 0 0" xyz="0.01905 0 0"/>
      <geometry>
        <box size="0.0381 .0075 .002"/>
      </geometry>
    </collision>
    <inertial>
      <origin rpy="0 0 0" xyz="0.01905 -0.00107 0"/>
      <mass value="0.00538"/>
      <inertia ixx="0.00000006639" ixy="-0.00000010996" ixz="-0.00000000094" iyy="0.00000305318" iyz="0" izz="0.00000304657"/>
    </inertial>
  </link>
  <gazebo reference="finger_middle_link_median_bar_underactuated">
    <mu1>1.1</mu1>
    <mu2>1.1</mu2>
  </gazebo>
  <!-- Link paradistal hinge -->
  <link name="finger_middle_link_paradistal_hinge">
    <visual>
      <origin rpy="0 0 0" xyz="0 0 0"/>
      <geometry>
        <box size=".02 .02 .002"/>
      </geometry>
    </visual>
    <collision>
      <origin rpy="0 0 0" xyz="0 0 0"/>
      <geometry>
        <box size=".02 0.02 .002"/>
      </geometry>
    </collision>
    <inertial>
      <origin rpy="0 0 0" xyz="0.00548 0 0"/>
      <mass value="0.00158"/>
      <inertia ixx="0.00000001907" ixy="0" ixz="0" iyy="0.00000010970" iyz="0" izz="0.00000012610"/>
    </inertial>
  </link>
  <gazebo reference="finger_middle_link_paradistal_hinge">
    <mu1>1.1</mu1>
    <mu2>1.1</mu2>
  </gazebo>
  <!-- End of link list -->
  <!-- Joint list -->
  <!-- Joint proximal actuating hinge -->
  <joint name="finger_middle_joint_proximal_actuating_hinge" type="revolute">
    <parent link="finger_middle_link_0"/>
    <child link="finger_middle_link_proximal_actuating_hinge"/>
    <axis xyz="0 0 1"/>
    <origin rpy="0 0 -2.0906" xyz="0 0 0.01"/>
    <limit effort="100" lower="-3.1416" upper="3.1416" velocity="100"/>
  </joint>
  <gazebo reference="finger_middle_joint_proximal_actuating_hinge">
    <implicitSpringDamper>1</implicitSpringDamper>
  </gazebo>
  <!-- Joint paraproximal actuating hinge -->
  <joint name="finger_middle_joint_paraproximal_actuating_hinge" type="revolute">
    <parent link="finger_middle_link_0"/>
    <child link="finger_middle_link_paraproximal_actuating_hinge"/>
    <axis xyz="0 0 1"/>
    <origin rpy="0 0 -2.0906" xyz="0 0 -0.01"/>
    <limit effort="100" lower="-3.1416" upper="3.1416" velocity="100"/>
  </joint>
  <gazebo reference="finger_middle_joint_paraproximal_actuating_hinge">
    <implicitSpringDamper>1</implicitSpringDamper>
  </gazebo>
  <!-- Joint proximal actuating bar -->
  <joint name="finger_middle_joint_proximal_actuating_bar" type="revolute">
    <parent link="finger_middle_link_proximal_actuating_hinge"/>
    <child link="finger_middle_link_proximal_actuating_bar"/>
    <axis xyz="0 0 1"/>
    <origin rpy="0 0 1.8616" xyz="0.02858 0 0"/>
    <limit effort="100" lower="-3.1416" upper="3.1416" velocity="100"/>
  </joint>
  <gazebo reference="finger_middle_joint_proximal_actuating_bar">
    <implicitSpringDamper>1</implicitSpringDamper>
  </gazebo>
  <!-- Joint paraproximal bar -->
  <joint name="finger_middle_joint_paraproximal_bar" type="revolute">
    <parent link="finger_middle_link_paraproximal_actuating_hinge"/>
    <child link="finger_middle_link_paraproximal_bar"/>
    <axis xyz="0 0 1"/>
    <origin rpy="0 0 1.57" xyz="0.02286 0 0"/>
    <limit effort="100" lower="-3.1416" upper="3.1416" velocity="100"/>
  </joint>
  <gazebo reference="finger_middle_joint_paraproximal_bar">
    <implicitSpringDamper>1</implicitSpringDamper>
  </gazebo>
  <!-- Joint median actuating hinge -->
  <joint name="finger_middle_joint_median_actuating_hinge" type="revolute">
    <parent link="finger_middle_link_1"/>
    <child link="finger_middle_link_median_actuating_hinge"/>
    <axis xyz="0 0 1"/>
    <origin rpy="0 0 -0.37" xyz="0 0.05715 0.01"/>
    <limit effort="100" lower="-3.1416" upper="3.1416" velocity="100"/>
  </joint>
  <gazebo reference="finger_middle_joint_median_actuating_hinge">
    <implicitSpringDamper>1</implicitSpringDamper>
  </gazebo>
  <!-- Joint paramedian hinge -->
  <joint name="finger_middle_joint_paramedian_hinge" type="revolute">
    <parent link="finger_middle_link_1"/>
    <child link="finger_middle_link_paramedian_hinge"/>
    <axis xyz="0 0 1"/>
    <!-- -0.37 is hand picked, 0.9719 is hand calculated from atan(0.02381/0.01625) -->
    <origin rpy="0 0 0" xyz="0 0.05715 -0.01"/>
    <limit effort="100" lower="-3.1416" upper="3.1416" velocity="100"/>
  </joint>
  <gazebo reference="finger_middle_joint_paramedian_hinge">
    <implicitSpringDamper>1</implicitSpringDamper>
  </gazebo>
  <!-- Joint median actuating hinge median bar -->
  <joint name="finger_middle_joint_median_actuating_hinge_median_bar" type="revolute">
    <parent link="finger_middle_link_median_actuating_hinge"/>
    <child link="finger_middle_link_median_bar"/>
    <axis xyz="0 0 1"/>
    <!-- hand calc 90 deg + atan(0.01516/0.01625) -->
    <origin rpy="0 0 2.3215" xyz="0.01625 0.01516 0"/>
    <limit effort="100" lower="-3.1416" upper="3.1416" velocity="100"/>
  </joint>
  <gazebo reference="finger_middle_joint_median_actuating_hinge_median_bar">
    <implicitSpringDamper>1</implicitSpringDamper>
  </gazebo>
  <!-- Joint paradistal hinge -->
  <joint name="finger_middle_joint_paradistal_hinge" type="revolute">
    <parent link="finger_middle_link_2"/>
    <child link="finger_middle_link_paradistal_hinge"/>
    <axis xyz="0 0 1"/>
    <origin rpy="0 0 0" xyz="0 0.039 -0.01"/>
    <limit effort="100" lower="-3.1416" upper="3.1416" velocity="100"/>
  </joint>
  <gazebo reference="finger_middle_joint_paradistal_hinge">
    <implicitSpringDamper>1</implicitSpringDamper>
  </gazebo>
  <!-- Joint paramedian hinge median bar underactuated -->
  <joint name="finger_middle_joint_paramedian_hinge_median_bar_underactuated" type="revolute">
    <parent link="finger_middle_link_paramedian_hinge"/>
    <child link="finger_middle_link_median_bar_underactuated"/>
    <axis xyz="0 0 1"/>
    <!-- hand calc 90 deg + atan(0.01227/0.00329) -->
    <origin rpy="0 0 1.5708" xyz="0.01227 0.00329 0"/>
    <limit effort="100" lower="-3.1416" upper="3.1416" velocity="100"/>
  </joint>
  <gazebo reference="finger_middle_joint_paramedian_hinge_median_bar_underactuated">
    <implicitSpringDamper>1</implicitSpringDamper>
  </gazebo>
  <!-- Joint 1 -->
  <joint name="finger_middle_joint_1" type="revolute">
    <origin rpy="0 0 -2.0906" xyz="0 0 0"/>
    <axis xyz="0 0 1"/>
    <parent link="finger_middle_link_0"/>
    <child link="finger_middle_link_1"/>
    <dynamics damping="1" friction="0"/>
    <!-- Limits: [0deg.,70deg.] -->
    <limit effort="60" lower="0" upper="1.2217" velocity="-1"/>
  </joint>
  <gazebo reference="finger_middle_joint_1">
    <implicitSpringDamper>1</implicitSpringDamper>
  </gazebo>
  <!-- Joint 2 -->
  <joint name="finger_middle_joint_2" type="revolute">
    <parent link="finger_middle_link_1"/>
    <child link="finger_middle_link_2"/>
    <dynamics damping="1" friction="0"/>
    <axis xyz="0 0 1"/>
    <origin rpy="0 0 0" xyz="0 0.05715 0"/>
    <!-- Limits: [0deg.,90deg.] -->
    <limit effort="60" lower="0" upper="1.5708" velocity="-1"/>
  </joint>
  <gazebo reference="finger_middle_joint_2">
    <implicitSpringDamper>1</implicitSpringDamper>
  </gazebo>
  <!-- Joint 3 -->
  <joint name="finger_middle_joint_3" type="revolute">
    <parent link="finger_middle_link_2"/>
    <child link="finger_middle_link_3"/>
    <dynamics damping="1" friction="0"/>
    <axis xyz="0 0 1"/>
    <origin rpy="0 0 2.0906" xyz="0 0.039 0"/>
    <!-- Limits: [-38deg.,60deg.] -->
    <limit effort="60" lower="-0.6632" upper="1.0471" velocity="-1"/>
  </joint>
  <gazebo reference="finger_middle_joint_3">
    <implicitSpringDamper>1</implicitSpringDamper>
  </gazebo>
  <!-- end of joint list -->
  <!-- coupling joints in sdf -->
  <gazebo>
    <joint name="finger_middle_link_proximal_actuating_bar_median_actuating_hinge_couple" type="revolute">
      <parent>finger_middle_link_median_actuating_hinge</parent>
      <child>finger_middle_link_proximal_actuating_bar</child>
      <pose>0.05398 0 0 0 0 0</pose>
      <axis>
        <dynamics>
          <damping>0</damping>
          <friction>0</friction>
        </dynamics>
        <xyz>0 0 1</xyz>
        <use_parent_model_frame>false</use_parent_model_frame>
      </axis>
    </joint>
  </gazebo>
  <gazebo reference="finger_middle_link_proximal_actuating_bar_median_actuating_hinge_couple">
    <implicitSpringDamper>1</implicitSpringDamper>
  </gazebo>
  <gazebo>
    <joint name="finger_middle_link_median_bar_link_3_couple" type="revolute">
      <parent>finger_middle_link_3</parent>
      <child>finger_middle_link_median_bar</child>
      <pose>0.0381 0 0 0 0 0</pose>
      <axis>
        <dynamics>
          <damping>0</damping>
          <friction>0</friction>
        </dynamics>
        <xyz>0 0 1</xyz>
        <use_parent_model_frame>false</use_parent_model_frame>
      </axis>
    </joint>
  </gazebo>
  <gazebo reference="finger_middle_link_median_bar_link_3_couple">
    <implicitSpringDamper>1</implicitSpringDamper>
  </gazebo>
  <gazebo>
    <joint name="finger_middle_link_paramedian_bar_paradistal_hinge_couple" type="revolute">
      <parent>finger_middle_link_paradistal_hinge</parent>
      <child>finger_middle_link_median_bar_underactuated</child>
      <pose>0.0381 0 0 0 0 0</pose>
      <axis>
        <dynamics>
          <damping>0</damping>
          <friction>0</friction>
        </dynamics>
        <xyz>0 0 1</xyz>
        <use_parent_model_frame>false</use_parent_model_frame>
      </axis>
    </joint>
  </gazebo>
  <gazebo reference="finger_middle_link_median_bar_link_3_couple">
    <implicitSpringDamper>1</implicitSpringDamper>
  </gazebo>
  <gazebo>
    <joint name="finger_middle_link_paradistal_hinge_link_3_couple" type="revolute">
      <parent>finger_middle_link_paradistal_hinge</parent>
      <child>finger_middle_link_3</child>
      <pose>0.0381 0 0 0 0 0</pose>
      <axis>
        <dynamics>
          <damping>0</damping>
          <friction>0</friction>
        </dynamics>
        <xyz>0 0 1</xyz>
        <use_parent_model_frame>false</use_parent_model_frame>
      </axis>
    </joint>
  </gazebo>
  <gazebo reference="finger_middle_link_paradistal_hinge_link_3_couple">
    <implicitSpringDamper>1</implicitSpringDamper>
  </gazebo>
  <gazebo>
    <joint name="finger_middle_link_paraproximal_bar_paramedian_hinge_couple" type="revolute">
      <parent>finger_middle_link_paramedian_hinge</parent>
      <child>finger_middle_link_paraproximal_bar</child>
      <pose>0.05770 0 0 0 0 0</pose>
      <axis>
        <dynamics>
          <damping>0</damping>
          <friction>0</friction>
        </dynamics>
        <xyz>0 0 1</xyz>
        <use_parent_model_frame>false</use_parent_model_frame>
      </axis>
    </joint>
  </gazebo>
  <gazebo reference="finger_middle_link_paraproximal_bar_paramedian_hinge_couple">
    <implicitSpringDamper>1</implicitSpringDamper>
  </gazebo>
  
 --&gt;

  
  <!-- link list -->
  <!-- Link palm -->
  <link name="palm">
    <visual>
      <geometry>
        <mesh filename="package://iiwa_tool_description/meshes/visual/palm.STL"/>
      </geometry>
      <material name="Green">
        <!-- <color rgba="0 1 0 1"/> -->
      </material>
    </visual>
    <!-- Mesh collision -->
    <!-- <collision>
          <geometry>
            <mesh filename="package://iiwa_tool_description/meshes/collision/palm.STL"/>
          </geometry>
          <material name="Grey">
            <color rgba="0 1 1 1"/>
          </material>
        </collision> -->
    <!-- Simple shape collision -->
    <collision>
      <origin rpy="0 0 0" xyz="0 0 0"/>
      <geometry>
        <box size="0.1 0.1 0.1"/>
      </geometry>
      <material name="Grey">
        <!-- <color rgba="0 1 1 1"/> -->
      </material>
    </collision>
    <inertial>
      <origin rpy="0 0 0" xyz="0 0 0"/>
      <mass value="1.3"/>
      <inertia ixx="0.0035" ixy="0" ixz="-0" iyy="0.0035" iyz="0" izz="0.0035"/>
    </inertial>
  </link>
  <gazebo reference="palm">
    <mu1>1.1</mu1>
    <mu2>1.1</mu2>
  </gazebo>
  <!-- End of link list -->
  <!-- Joint list -->
  <!-- Joint palm_finger_1_joint -->
  <joint name="palm_finger_1_joint" type="revolute">
    <parent link="palm"/>
    <child link="finger_1_link_0"/>
    <dynamics damping="1" friction="0"/>
    <axis xyz="0 1 0"/>
    <origin rpy="0 3.1416 -1.57" xyz="-0.0455 0.0214 0.036"/>
    <!-- Limits: [-17deg.,17deg.] -->
    <limit effort="60" lower="-0.2967" upper="0.2967" velocity="-1"/>
  </joint>
  <gazebo reference="palm_finger_1_joint">
    <implicitSpringDamper>1</implicitSpringDamper>
  </gazebo>
  <!-- Joint palm_finger_2_joint -->
  <joint name="palm_finger_2_joint" type="revolute">
    <parent link="palm"/>
    <child link="finger_2_link_0"/>
    <dynamics damping="1" friction="0"/>
    <axis xyz="0 1 0"/>
    <origin rpy="0 3.1416 -1.57" xyz="-0.0455 0.0214 -0.036"/>
    <!-- Limits: [-17deg.,17deg.] -->
    <limit effort="60" lower="-0.2967" upper="0.2967" velocity="-1"/>
  </joint>
  <gazebo reference="palm_finger_2_joint">
    <implicitSpringDamper>1</implicitSpringDamper>
  </gazebo>
  <!-- Joint palm_finger_middle_joint -->
  <joint name="palm_finger_middle_joint" type="revolute">
    <parent link="palm"/>
    <child link="finger_middle_link_0"/>
    <dynamics damping="1" friction="0"/>
    <axis xyz="0 1 0"/>
    <origin rpy="0 0 1.57" xyz="0.0455 0.0214 0"/>
    <limit effort="60" lower="0" upper="0" velocity="-1"/>
  </joint>
  <gazebo reference="palm_finger_middle_joint">
    <implicitSpringDamper>1</implicitSpringDamper>
  </gazebo>
</robot>
